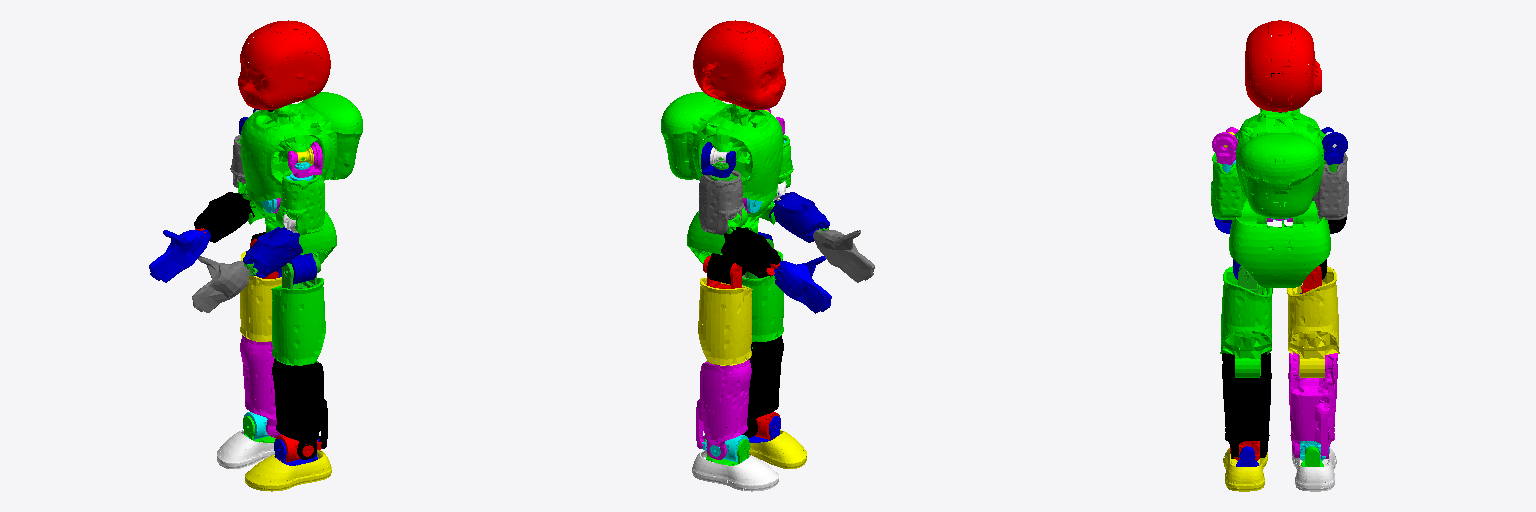
--- Render facts (derived) ---
3 views of the same robot in one strip: view 1: azimuth 30°, elevation 25°; view 2: azimuth 150°, elevation 25°; view 3: azimuth 270°, elevation 25° (orthographic).
Robot: iCub — 189 links, 188 joints (32 revolute, 156 fixed); root link base_link; default pose: all joints at 0 but 2 set to mid-range because 0 is outside their limits (r_elbow = 1.06, l_elbow = 1.06).
Visible links, largest first — view 1: chest, head, l_lower_leg, l_upper_leg, r_lower_leg, l_upper_arm, l_foot, r_upper_leg, l_hand, l_forearm, r_hand, r_forearm (+4 smaller); view 2: chest, head, r_lower_leg, r_upper_leg, l_lower_leg, r_upper_arm, r_foot, l_upper_leg, r_hand, r_forearm, l_hand, l_forearm (+4 smaller); view 3: chest, root_link, head, r_upper_leg, l_upper_leg, l_lower_leg, r_lower_leg, r_upper_arm, l_upper_arm, r_foot, l_foot, r_shoulder_2 (+1 smaller).
Boxes of the visible links, box(x1,y1,x2,y2) form: chest: box(240, 92, 362, 200); head: box(238, 20, 330, 109); l_lower_leg: box(272, 359, 327, 459); l_upper_leg: box(271, 278, 325, 365); r_lower_leg: box(240, 335, 281, 437); l_upper_arm: box(280, 170, 324, 234); l_foot: box(245, 450, 331, 491); r_upper_leg: box(240, 251, 281, 341); l_hand: box(192, 256, 249, 312); l_forearm: box(243, 227, 302, 277); r_hand: box(149, 230, 210, 282); r_forearm: box(194, 192, 254, 242); chest: box(661, 92, 783, 201); head: box(693, 20, 785, 109); r_lower_leg: box(696, 359, 751, 459); r_upper_leg: box(698, 278, 752, 365); l_lower_leg: box(742, 335, 783, 437); r_upper_arm: box(699, 170, 743, 234); r_foot: box(692, 450, 778, 491); l_upper_leg: box(742, 250, 783, 348); r_hand: box(774, 256, 831, 313); r_forearm: box(721, 227, 780, 277); l_hand: box(813, 229, 874, 282); l_forearm: box(769, 192, 829, 242); chest: box(1234, 108, 1325, 218); root_link: box(1229, 201, 1330, 287); head: box(1245, 20, 1321, 111); r_upper_leg: box(1287, 266, 1339, 377); l_upper_leg: box(1220, 266, 1272, 377); l_lower_leg: box(1222, 352, 1271, 458); r_lower_leg: box(1288, 346, 1337, 458); r_upper_arm: box(1312, 153, 1348, 219); l_upper_arm: box(1211, 153, 1247, 219); r_foot: box(1292, 448, 1336, 491); l_foot: box(1223, 448, 1267, 491); r_shoulder_2: box(1321, 127, 1347, 164).
Size in the robot's own frame: 0.4797 by 0.2988 by 1.08 metres.
Meshes: 39 distinct files referenced, 39 mesh visuals loaded (39 binary STL).

The robot description file, URDF, robot "iCub":
<robot name="iCub">
  <link name="root_link">
    <inertial>
      <origin xyz="0.0248821 0.000103947 -0.0440806" rpy="1.57079632679 0 -1.57079632679"/>
      <mass value="5.09143"/>
      <inertia ixx="0.0139679" ixy="-5.93488e-06" ixz="-1.55458e-05" iyy="0.0202112" iyz="-0.00170968" izz="0.0249124"/>
    </inertial>
    <visual>
      <origin xyz="-0.0364 0 0.032" rpy="1.57079632679 0 -1.57079632679"/>
      <geometry>
        <mesh filename="package://meshes/sim_sea_2-5_root_link_prt-binary.stl" scale="0.001 0.001 0.001"/>
      </geometry>
      <material name="green">
        <color rgba="0 1 0 1"/>
      </material>
    </visual>
    <collision>
      <origin xyz="-0.0364 0 0.032" rpy="1.57079632679 0 -1.57079632679"/>
      <geometry>
        <mesh filename="package://meshes/sim_sea_2-5_root_link_prt-binary.stl" scale="0.001 0.001 0.001"/>
      </geometry>
    </collision>
  </link>
  <link name="r_hip_1">
    <inertial>
      <origin xyz="-0.0005145 -0.0380753 -7.1e-05" rpy="1.57079632679 0 1.57079632679"/>
      <mass value="0.919978"/>
      <inertia ixx="0.000404268" ixy="-1.26852e-06" ixz="1.11055e-06" iyy="0.000574741" iyz="-7.69474e-07" izz="0.000580025"/>
    </inertial>
    <visual>
      <origin xyz="0.0428515000001 0.026 0.151913" rpy="1.57079632679 0 1.57079632679"/>
      <geometry>
        <mesh filename="package://meshes/sim_sea_2-5_r_hip_1_prt-binary.stl" scale="0.001 0.001 0.001"/>
      </geometry>
      <material name="black">
        <color rgba="0 0 0 1"/>
      </material>
    </visual>
    <collision>
      <origin xyz="0.0428515000001 0.026 0.151913" rpy="1.57079632679 0 1.57079632679"/>
      <geometry>
        <mesh filename="package://meshes/sim_sea_2-5_r_hip_1_prt-binary.stl" scale="0.001 0.001 0.001"/>
      </geometry>
    </collision>
  </link>
  <joint name="r_hip_pitch" type="revolute">
    <origin xyz="0.0064515 0.026 -0.119913" rpy="0 0 -3.14159265359"/>
    <axis xyz="-2.22044604925e-16 -1.0 0.0"/>
    <parent link="root_link"/>
    <child link="r_hip_1"/>
    <limit effort="55.5" lower="-0.785398163397" upper="2.33874119767" velocity="5.1"/>
    <dynamics damping="1.0" friction="0.0"/>
  </joint>
  <link name="r_hip_2">
    <inertial>
      <origin xyz="-0.0013754 3.49999999998e-06 -0.044282" rpy="1.57079632679 0 1.57079632679"/>
      <mass value="0.418361"/>
      <inertia ixx="0.000487866" ixy="-2.70231e-07" ixz="1.85338e-07" iyy="0.000286099" iyz="1.22793e-05" izz="0.000315174"/>
    </inertial>
    <visual>
      <origin xyz="0.0428514998094 0.0701 0.151913" rpy="1.57079632679 0 1.57079632679"/>
      <geometry>
        <mesh filename="package://meshes/sim_sea_2-5_r_hip_2_prt-binary.stl" scale="0.001 0.001 0.001"/>
      </geometry>
      <material name="red">
        <color rgba="1 0 0 1"/>
      </material>
    </visual>
    <collision>
      <origin xyz="0.0428514998094 0.0701 0.151913" rpy="1.57079632679 0 1.57079632679"/>
      <geometry>
        <mesh filename="package://meshes/sim_sea_2-5_r_hip_2_prt-binary.stl" scale="0.001 0.001 0.001"/>
      </geometry>
    </collision>
  </link>
  <joint name="r_hip_roll" type="revolute">
    <origin xyz="0 -0.0441 0" rpy="0 0 0"/>
    <axis xyz="-1.0 0.0 -2.22044604925e-16"/>
    <parent link="r_hip_1"/>
    <child link="r_hip_2"/>
    <limit effort="37.0" lower="-0.349065850399" upper="2.09439510239" velocity="7.64"/>
    <dynamics damping="1.0" friction="0.0"/>
  </joint>
  <link name="r_hip_3">
    <inertial>
      <origin xyz="-0.000123 -0.0002823 0.008718" rpy="-1.57079632679 0 -1.57079632679"/>
      <mass value="0.126212"/>
      <inertia ixx="0.01" ixy="2.67901e-07" ixz="-4.41463e-09" iyy="0.01" iyz="3.32338e-08" izz="0.01"/>
    </inertial>
    <visual>
      <origin xyz="0.0437089998094 -0.0701 -0.226213" rpy="-1.57079632679 0 -1.57079632679"/>
      <geometry>
        <mesh filename="package://meshes/sim_sea_2-5_r_upper_thigh_prt-binary.stl" scale="0.001 0.001 0.001"/>
      </geometry>
      <material name="blue">
        <color rgba="0 0 1 1"/>
      </material>
    </visual>
    <collision>
      <origin xyz="0.0437089998094 -0.0701 -0.226213" rpy="-1.57079632679 0 -1.57079632679"/>
      <geometry>
        <mesh filename="package://meshes/sim_sea_2-5_r_upper_thigh_prt-binary.stl" scale="0.001 0.001 0.001"/>
      </geometry>
    </collision>
  </link>
  <joint name="r_leg_ft_sensor" type="fixed">
    <origin xyz="-0.0008575 0 -0.0743" rpy="3.14159265359 0 0"/>
    <parent link="r_hip_2"/>
    <child link="r_hip_3"/>
    <dynamics damping="0.1"/>
  </joint>
  <link name="r_upper_leg">
    <inertial>
      <origin xyz="0.0033999 -2.91e-05 -0.078954" rpy="1.57079632679 0 1.57079632679"/>
      <mass value="1.8035"/>
      <inertia ixx="0.00647751422999" ixy="0.000129579429588" ixz="5.48205094739e-06" iyy="0.0014593786411" iyz="-0.000136613086875" izz="0.00646720823813"/>
    </inertial>
    <visual>
      <origin xyz="0.0437089998094 0.0701 0.240813" rpy="1.57079632679 0 1.57079632679"/>
      <geometry>
        <mesh filename="package://meshes/sim_sea_2-5_r_thigh_prt-binary.stl" scale="0.001 0.001 0.001"/>
      </geometry>
      <material name="yellow">
        <color rgba="1 1 0 1"/>
      </material>
    </visual>
    <collision>
      <origin xyz="0.0437089998094 0.0701 0.240813" rpy="1.57079632679 0 1.57079632679"/>
      <geometry>
        <mesh filename="package://meshes/sim_sea_2-5_r_thigh_prt-binary.stl" scale="0.001 0.001 0.001"/>
      </geometry>
    </collision>
  </link>
  <joint name="r_hip_yaw" type="revolute">
    <origin xyz="0 0 0.0144" rpy="-3.14159265359 0 0"/>
    <axis xyz="0.0 -2.22044604925e-16 -1.0"/>
    <parent link="r_hip_3"/>
    <child link="r_upper_leg"/>
    <limit effort="37.0" lower="-1.3962634016" upper="1.3962634016" velocity="7.64"/>
    <dynamics damping="1.0" friction="0.0"/>
  </joint>
  <link name="r_upper_leg_back_contact"/>
  <joint name="r_upper_leg_back_contact_fixed_joint" type="fixed">
    <origin xyz="-0.0511999 0 0.0146" rpy="0 1.57079632679 0"/>
    <parent link="r_upper_leg"/>
    <child link="r_upper_leg_back_contact"/>
    <dynamics damping="0.1"/>
  </joint>
  <link name="r_upper_leg_dh_frame"/>
  <joint name="r_upper_leg_dh_frame_fixed_joint" type="fixed">
    <origin xyz="0 0 -0.145825" rpy="1.57079632679 0 0"/>
    <parent link="r_upper_leg"/>
    <child link="r_upper_leg_dh_frame"/>
    <dynamics damping="0.1"/>
  </joint>
  <link name="r_lower_leg">
    <inertial>
      <origin xyz="0.0012363 -0.0035131 -0.088794" rpy="1.57079632679 0 1.57079632679"/>
      <mass value="1.472"/>
      <inertia ixx="0.00423993167478" ixy="0.000228814548854" ixz="-5.55646459453e-05" iyy="0.00152095043447" iyz="-0.000264132979243" izz="0.00457358584206"/>
    </inertial>
    <visual>
      <origin xyz="0.0437089998094 0.0701000001907 0.386638" rpy="1.57079632679 0 1.57079632679"/>
      <geometry>
        <mesh filename="package://meshes/sim_sea_2-5_r_shank_prt-binary.stl" scale="0.001 0.001 0.001"/>
      </geometry>
      <material name="pink">
        <color rgba="1 0 1 1"/>
      </material>
    </visual>
    <collision>
      <origin xyz="0.0437089998094 0.0701000001907 0.386638" rpy="1.57079632679 0 1.57079632679"/>
      <geometry>
        <mesh filename="package://meshes/sim_sea_2-5_r_shank_prt-binary.stl" scale="0.001 0.001 0.001"/>
      </geometry>
    </collision>
  </link>
  <joint name="r_knee" type="revolute">
    <origin xyz="0 0 -0.145825" rpy="0 0 0"/>
    <axis xyz="-2.22044604925e-16 -1.0 0.0"/>
    <parent link="r_upper_leg"/>
    <child link="r_lower_leg"/>
    <limit effort="37.0" lower="-2.16420827247" upper="0.0698131700798" velocity="7.64"/>
    <dynamics damping="1.0" friction="0.0"/>
  </joint>
  <link name="r_lower_leg_skin_0"/>
  <joint name="r_lower_leg_skin_0_fixed_joint" type="fixed">
    <origin xyz="0.0544117 -0.031214 -0.002634" rpy="2.09173809157e-06 -1.41530676247 2.48648458622"/>
    <parent link="r_lower_leg"/>
    <child link="r_lower_leg_skin_0"/>
    <dynamics damping="0.1"/>
  </joint>
  <link name="r_lower_leg_skin_3"/>
  <joint name="r_lower_leg_skin_3_fixed_joint" type="fixed">
    <origin xyz="0.05157878 0.0304205 -0.002843" rpy="0 -1.42951054083 -2.30391484186"/>
    <parent link="r_lower_leg"/>
    <child link="r_lower_leg_skin_3"/>
    <dynamics damping="0.1"/>
  </joint>
  <link name="r_lower_leg_skin_4"/>
  <joint name="r_lower_leg_skin_4_fixed_joint" type="fixed">
    <origin xyz="0.0583103 0.0167836 0.007272" rpy="-2.98636361519e-07 -1.25636748876 -2.75892380087"/>
    <parent link="r_lower_leg"/>
    <child link="r_lower_leg_skin_4"/>
    <dynamics damping="0.1"/>
  </joint>
  <link name="r_lower_leg_skin_5"/>
  <joint name="r_lower_leg_skin_5_fixed_joint" type="fixed">
    <origin xyz="0.0636503 0.0003094 -0.001972" rpy="0 -1.38652215068 -3.14147169807"/>
    <parent link="r_lower_leg"/>
    <child link="r_lower_leg_skin_5"/>
    <dynamics damping="0.1"/>
  </joint>
  <link name="r_lower_leg_skin_6"/>
  <joint name="r_lower_leg_skin_6_fixed_joint" type="fixed">
    <origin xyz="0.05208552 0.0304434 -0.022149" rpy="-3.14158927953 -1.46785123411 0.837492889077"/>
    <parent link="r_lower_leg"/>
    <child link="r_lower_leg_skin_6"/>
    <dynamics damping="0.1"/>
  </joint>
  <link name="r_lower_leg_skin_9"/>
  <joint name="r_lower_leg_skin_9_fixed_joint" type="fixed">
    <origin xyz="0.0598214 0.0167973 -0.030962" rpy="-3.14159202356 -1.34224755325 0.379294477718"/>
    <parent link="r_lower_leg"/>
    <child link="r_lower_leg_skin_9"/>
    <dynamics damping="0.1"/>
  </joint>
  <link name="r_lower_leg_skin_10"/>
  <joint name="r_lower_leg_skin_10_fixed_joint" type="fixed">
    <origin xyz="0.0644607 0.0003424 -0.021205" rpy="3.14159265355 -1.47095803541 0.000430021675261"/>
    <parent link="r_lower_leg"/>
    <child link="r_lower_leg_skin_10"/>
    <dynamics damping="0.1"/>
  </joint>
  <link name="r_lower_leg_skin_11"/>
  <joint name="r_lower_leg_skin_11_fixed_joint" type="fixed">
    <origin xyz="0.0607108 -0.0160916 -0.030885" rpy="-3.14159218252 -1.3281180406 -0.27213836788"/>
    <parent link="r_lower_leg"/>
    <child link="r_lower_leg_skin_11"/>
    <dynamics damping="0.1"/>
  </joint>
  <link name="r_lower_leg_skin_14"/>
  <joint name="r_lower_leg_skin_14_fixed_joint" type="fixed">
    <origin xyz="0.0550477 -0.031176 -0.0219" rpy="-3.14159181885 -1.46502735635 -0.654033407167"/>
    <parent link="r_lower_leg"/>
    <child link="r_lower_leg_skin_14"/>
    <dynamics damping="0.1"/>
  </joint>
  <link name="r_lower_leg_skin_15"/>
  <joint name="r_lower_leg_skin_15_fixed_joint" type="fixed">
    <origin xyz="0.0591708 -0.0161788 0.007243" rpy="4.27484256729e-07 -1.25203633076 2.86798859471"/>
    <parent link="r_lower_leg"/>
    <child link="r_lower_leg_skin_15"/>
    <dynamics damping="0.1"/>
  </joint>
  <link name="r_lower_leg_skin_16"/>
  <joint name="r_lower_leg_skin_16_fixed_joint" type="fixed">
    <origin xyz="0.0272875 -0.050287 -0.004549" rpy="1.33075915123e-05 -1.53260853515 1.96280242835"/>
    <parent link="r_lower_leg"/>
    <child link="r_lower_leg_skin_16"/>
    <dynamics damping="0.1"/>
  </joint>
  <link name="r_lower_leg_skin_17"/>
  <joint name="r_lower_leg_skin_17_fixed_joint" type="fixed">
    <origin xyz="0.027875 -0.050312 -0.023882" rpy="-3.1415645262 -1.56366240237 -1.18022508756"/>
    <parent link="r_lower_leg"/>
    <child link="r_lower_leg_skin_17"/>
    <dynamics damping="0.1"/>
  </joint>
  <link name="r_lower_leg_skin_19"/>
  <joint name="r_lower_leg_skin_19_fixed_joint" type="fixed">
    <origin xyz="0.0357534 0.0410628 0.006065" rpy="-8.90877717426e-07 -1.43498696978 -2.15863618017"/>
    <parent link="r_lower_leg"/>
    <child link="r_lower_leg_skin_19"/>
    <dynamics damping="0.1"/>
  </joint>
  <link name="r_lower_leg_skin_20"/>
  <joint name="r_lower_leg_skin_20_fixed_joint" type="fixed">
    <origin xyz="0.0234419 0.0479908 -0.004952" rpy="-3.20556549428e-06 -1.50015513031 -1.86755092413"/>
    <parent link="r_lower_leg"/>
    <child link="r_lower_leg_skin_20"/>
    <dynamics damping="0.1"/>
  </joint>
  <link name="r_lower_leg_skin_21"/>
  <joint name="r_lower_leg_skin_21_fixed_joint" type="fixed">
    <origin xyz="0.0242704 0.0485378 -0.024277" rpy="2.29671149558e-05 -1.55545513881 -1.87411972316"/>
    <parent link="r_lower_leg"/>
    <child link="r_lower_leg_skin_21"/>
    <dynamics damping="0.1"/>
  </joint>
  <link name="r_lower_leg_skin_28"/>
  <joint name="r_lower_leg_skin_28_fixed_joint" type="fixed">
    <origin xyz="0.04087215 -0.04244 -0.032756" rpy="3.14158088865 -1.52252462169 -0.929681029763"/>
    <parent link="r_lower_leg"/>
    <child link="r_lower_leg_skin_28"/>
    <dynamics damping="0.1"/>
  </joint>
  <link name="r_lower_leg_skin_29"/>
  <joint name="r_lower_leg_skin_29_fixed_joint" type="fixed">
    <origin xyz="0.03846637 -0.043516 -0.05242" rpy="3.14158017044 -1.53429841563 -0.915436346631"/>
    <parent link="r_lower_leg"/>
    <child link="r_lower_leg_skin_29"/>
    <dynamics damping="0.1"/>
  </joint>
  <link name="r_lower_leg_skin_31"/>
  <joint name="r_lower_leg_skin_31_fixed_joint" type="fixed">
    <origin xyz="0.03914638 -0.042271 0.006327" rpy="-6.58381747139e-07 -1.4186494462 2.20853032986"/>
    <parent link="r_lower_leg"/>
    <child link="r_lower_leg_skin_31"/>
    <dynamics damping="0.1"/>
  </joint>
  <link name="r_lower_leg_skin_32"/>
  <joint name="r_lower_leg_skin_32_fixed_joint" type="fixed">
    <origin xyz="0.04598301 0.0325847 -0.080733" rpy="-3.14159014988 -1.52238289798 0.645940380887"/>
    <parent link="r_lower_leg"/>
    <child link="r_lower_leg_skin_32"/>
    <dynamics damping="0.1"/>
  </joint>
  <link name="r_lower_leg_skin_35"/>
  <joint name="r_lower_leg_skin_35_fixed_joint" type="fixed">
    <origin xyz="0.04774866 -0.031232 -0.080113" rpy="-3.14158668275 -1.51758467332 -0.541532486468"/>
    <parent link="r_lower_leg"/>
    <child link="r_lower_leg_skin_35"/>
    <dynamics damping="0.1"/>
  </joint>
  <link name="r_lower_leg_skin_36"/>
  <joint name="r_lower_leg_skin_36_fixed_joint" type="fixed">
    <origin xyz="0.05322409 -0.0156018 -0.088362" rpy="-3.14159034144 -1.51587265281 -0.20740733566"/>
    <parent link="r_lower_leg"/>
    <child link="r_lower_leg_skin_36"/>
    <dynamics damping="0.1"/>
  </joint>
  <link name="r_lower_leg_skin_37"/>
  <joint name="r_lower_leg_skin_37_fixed_joint" type="fixed">
    <origin xyz="0.0552572 0.0009644 -0.078318" rpy="-3.14158180452 -1.52318336898 0.00752450583063"/>
    <parent link="r_lower_leg"/>
    <child link="r_lower_leg_skin_37"/>
    <dynamics damping="0.1"/>
  </joint>
  <link name="r_lower_leg_skin_38"/>
  <joint name="r_lower_leg_skin_38_fixed_joint" type="fixed">
    <origin xyz="0.04880467 -0.031263 -0.060757" rpy="3.14158665199 -1.5157299554 -0.54215359959"/>
    <parent link="r_lower_leg"/>
    <child link="r_lower_leg_skin_38"/>
    <dynamics damping="0.1"/>
  </joint>
  <link name="r_lower_leg_skin_41"/>
  <joint name="r_lower_leg_skin_41_fixed_joint" type="fixed">
    <origin xyz="0.0566009 -0.0159129 -0.049854" rpy="-3.14159198825 -1.40681343597 -0.248233089413"/>
    <parent link="r_lower_leg"/>
    <child link="r_lower_leg_skin_41"/>
    <dynamics damping="0.1"/>
  </joint>
  <link name="r_lower_leg_skin_42"/>
  <joint name="r_lower_leg_skin_42_fixed_joint" type="fixed">
    <origin xyz="0.0570106 0.0007962 -0.05908" rpy="3.14158970239 -1.43524750416 0.00687943651504"/>
    <parent link="r_lower_leg"/>
    <child link="r_lower_leg_skin_42"/>
    <dynamics damping="0.1"/>
  </joint>
  <link name="r_lower_leg_skin_43"/>
  <joint name="r_lower_leg_skin_43_fixed_joint" type="fixed">
    <origin xyz="0.04712542 0.0323653 -0.061362" rpy="-3.14159136621 -1.53843038237 0.624217523667"/>
    <parent link="r_lower_leg"/>
    <child link="r_lower_leg_skin_43"/>
    <dynamics damping="0.1"/>
  </joint>
  <link name="r_lower_leg_skin_46"/>
  <joint name="r_lower_leg_skin_46_fixed_joint" type="fixed">
    <origin xyz="0.0558156 0.0172164 -0.05018" rpy="-3.14158987809 -1.42759881603 0.325607710876"/>
    <parent link="r_lower_leg"/>
    <child link="r_lower_leg_skin_46"/>
    <dynamics damping="0.1"/>
  </joint>
  <link name="r_lower_leg_skin_47"/>
  <joint name="r_lower_leg_skin_47_fixed_joint" type="fixed">
    <origin xyz="0.05264163 0.0176389 -0.08886" rpy="3.14158963519 -1.51690559406 0.262640425058"/>
    <parent link="r_lower_leg"/>
    <child link="r_lower_leg_skin_47"/>
    <dynamics damping="0.1"/>
  </joint>
  <link name="r_lower_leg_skin_49"/>
  <joint name="r_lower_leg_skin_49_fixed_joint" type="fixed">
    <origin xyz="0.04113137 0.0324385 -0.138859" rpy="-3.14158934751 -1.48996135695 0.729763592113"/>
    <parent link="r_lower_leg"/>
    <child link="r_lower_leg_skin_49"/>
    <dynamics damping="0.1"/>
  </joint>
  <link name="r_lower_leg_skin_50"/>
  <joint name="r_lower_leg_skin_50_fixed_joint" type="fixed">
    <origin xyz="0.043016947 0.0325273 -0.119469" rpy="3.14159069596 -1.49900732636 0.695784020081"/>
    <parent link="r_lower_leg"/>
    <child link="r_lower_leg_skin_50"/>
    <dynamics damping="0.1"/>
  </joint>
  <link name="r_lower_leg_skin_51"/>
  <joint name="r_lower_leg_skin_51_fixed_joint" type="fixed">
    <origin xyz="0.05141583 0.017759 -0.108206" rpy="-3.14158890179 -1.50628475717 0.272079935713"/>
    <parent link="r_lower_leg"/>
    <child link="r_lower_leg_skin_51"/>
    <dynamics damping="0.1"/>
  </joint>
  <link name="r_lower_leg_skin_52"/>
  <joint name="r_lower_leg_skin_52_fixed_joint" type="fixed">
    <origin xyz="0.05299832 0.0012664 -0.116895" rpy="-3.14159164042 -1.50318674421 0.0108717260994"/>
    <parent link="r_lower_leg"/>
    <child link="r_lower_leg_skin_52"/>
    <dynamics damping="0.1"/>
  </joint>
  <link name="r_lower_leg_skin_53"/>
  <joint name="r_lower_leg_skin_53_fixed_joint" type="fixed">
    <origin xyz="0.05207312 -0.0154339 -0.107654" rpy="3.14159063987 -1.50595307447 -0.211407322892"/>
    <parent link="r_lower_leg"/>
    <child link="r_lower_leg_skin_53"/>
    <dynamics damping="0.1"/>
  </joint>
  <link name="r_lower_leg_skin_54"/>
  <joint name="r_lower_leg_skin_54_fixed_joint" type="fixed">
    <origin xyz="0.04512708 -0.030749 -0.118787" rpy="3.14158825193 -1.49745145571 -0.575115374473"/>
    <parent link="r_lower_leg"/>
    <child link="r_lower_leg_skin_54"/>
    <dynamics damping="0.1"/>
  </joint>
  <link name="r_lower_leg_skin_55"/>
  <joint name="r_lower_leg_skin_55_fixed_joint" type="fixed">
    <origin xyz="0.043502663 -0.030489 -0.138143" rpy="3.14158906486 -1.48995787038 -0.597219943789"/>
    <parent link="r_lower_leg"/>
    <child link="r_lower_leg_skin_55"/>
    <dynamics damping="0.1"/>
  </joint>
  <link name="r_lower_leg_skin_56"/>
  <joint name="r_lower_leg_skin_56_fixed_joint" type="fixed">
    <origin xyz="0.04926839 -0.015121 -0.146218" rpy="-3.14158920404 -1.49124819828 -0.2234844764"/>
    <parent link="r_lower_leg"/>
    <child link="r_lower_leg_skin_56"/>
    <dynamics damping="0.1"/>
  </joint>
  <link name="r_lower_leg_skin_60"/>
  <joint name="r_lower_leg_skin_60_fixed_joint" type="fixed">
    <origin xyz="0.04836967 0.018056 -0.146938" rpy="-3.14159173337 -1.48985968527 0.302951871954"/>
    <parent link="r_lower_leg"/>
    <child link="r_lower_leg_skin_60"/>
    <dynamics damping="0.1"/>
  </joint>
  <link name="r_lower_leg_skin_61"/>
  <joint name="r_lower_leg_skin_61_fixed_joint" type="fixed">
    <origin xyz="0.05161952 0.0014266 -0.136169" rpy="-3.14159100925 -1.49602097086 0.0132014275205"/>
    <parent link="r_lower_leg"/>
    <child link="r_lower_leg_skin_61"/>
    <dynamics damping="0.1"/>
  </joint>
  <link name="r_ankle_1">
    <inertial>
      <origin xyz="0.0151436 -0.0008686 4.2e-05" rpy="1.57079632679 0 1.57079632679"/>
      <mass value="0.6803"/>
      <inertia ixx="0.000404618848932" ixy="7.49819286945e-07" ixz="-3.01349467691e-05" iyy="0.000448633654664" iyz="2.5726697409e-06" izz="0.000308235939139"/>
    </inertial>
    <visual>
      <origin xyz="0.0437089998094 0.0701000001907 0.587138" rpy="1.57079632679 0 1.57079632679"/>
      <geometry>
        <mesh filename="package://meshes/sim_sea_2-5_r_ankle_prt-binary.stl" scale="0.001 0.001 0.001"/>
      </geometry>
      <material name="cyan">
        <color rgba="0 1 1 1"/>
      </material>
    </visual>
    <collision>
      <origin xyz="0.0437089998094 0.0701000001907 0.587138" rpy="1.57079632679 0 1.57079632679"/>
      <geometry>
        <mesh filename="package://meshes/sim_sea_2-5_r_ankle_prt-binary.stl" scale="0.001 0.001 0.001"/>
      </geometry>
    </collision>
  </link>
  <joint name="r_ankle_pitch" type="revolute">
    <origin xyz="0 0 -0.2005" rpy="0 0 0"/>
    <axis xyz="2.22044604925e-16 1.0 0.0"/>
    <parent link="r_lower_leg"/>
    <child link="r_ankle_1"/>
    <limit effort="37.0" lower="-0.610865238198" upper="0.610865238198" velocity="7.64"/>
    <dynamics damping="1.0" friction="0.0"/>
  </joint>
  <link name="r_ankle_2">
    <inertial>
      <origin xyz="0.0007673 -8.20000000001e-06 -0.038202" rpy="1.57079632679 0 1.57079632679"/>
      <mass value="0.267485"/>
      <inertia ixx="0.01" ixy="-7.53335e-08" ixz="2.93681e-08" iyy="0.01" iyz="-4.26218e-07" izz="0.01"/>
    </inertial>
    <visual>
      <origin xyz="0.0437089996186 0.0701000001907 0.587138" rpy="1.57079632679 0 1.57079632679"/>
      <geometry>
        <mesh filename="package://meshes/sim_sea_2-5_r_foot_prt-binary.stl" scale="0.001 0.001 0.001"/>
      </geometry>
      <material name="green">
        <color rgba="0 1 0 1"/>
      </material>
    </visual>
    <collision>
      <origin xyz="0.0437089996186 0.0701000001907 0.587138" rpy="1.57079632679 0 1.57079632679"/>
      <geometry>
        <mesh filename="package://meshes/sim_sea_2-5_r_foot_prt-binary.stl" scale="0.001 0.001 0.001"/>
      </geometry>
    </collision>
  </link>
  <joint name="r_ankle_roll" type="revolute">
    <origin xyz="0 0 0" rpy="0 0 0"/>
    <axis xyz="-1.0 0.0 -2.22044604925e-16"/>
    <parent link="r_ankle_1"/>
    <child link="r_ankle_2"/>
    <limit effort="37.0" lower="-0.436332312999" upper="0.436332312999" velocity="7.64"/>
    <dynamics damping="1.0" friction="0.0"/>
  </joint>
  <link name="r_foot">
    <inertial>
      <origin xyz="0.0336001 0.0053719 -0.001147" rpy="-1.57079632679 0 -1.57079632679"/>
      <mass value="0.382866"/>
      <inertia ixx="0.00120946" ixy="3.74585e-07" ixz="-5.78759e-05" iyy="0.00141439" iyz="-7.80325e-06" izz="0.000273599"/>
    </inertial>
    <visual>
      <origin xyz="0.0472089996187 -0.0701000001907 -0.647438000286" rpy="-1.57079632679 0 -1.57079632679"/>
      <geometry>
        <mesh filename="package://meshes/sim_sea_2-5_r_sole_prt-binary.stl" scale="0.001 0.001 0.001"/>
      </geometry>
      <material name="white">
        <color rgba="1 1 1 1"/>
      </material>
    </visual>
    <collision>
      <origin xyz="0.03 0.005 0.014" rpy="0.0 0.0 0.0"/>
      <geometry>
        <box size="0.16 0.072 0.001"/>
      </geometry>
    </collision>
  </link>
  <joint name="r_foot_ft_sensor" type="fixed">
    <origin xyz="-0.0035 0 -0.0605" rpy="3.14159265359 0 0"/>
    <parent link="r_ankle_2"/>
    <child link="r_foot"/>
    <dynamics damping="0.1"/>
  </joint>
  <link name="r_sole"/>
  <joint name="r_sole_fixed_joint" type="fixed">
    <origin xyz="0.0035 0 0.004" rpy="-3.14159265359 0 0"/>
    <parent link="r_foot"/>
    <child link="r_sole"/>
    <dynamics damping="0.1"/>
  </joint>
  <link name="r_sole_skin_0"/>
  <joint name="r_sole_skin_0_fixed_joint" type="fixed">
    <origin xyz="0.0604767 -0.0254106 0.0075" rpy="0 0 0"/>
    <parent link="r_foot"/>
    <child link="r_sole_skin_0"/>
    <dynamics damping="0.1"/>
  </joint>
  <link name="r_sole_skin_1"/>
  <joint name="r_sole_skin_1_fixed_joint" type="fixed">
    <origin xyz="0.0788511 -0.0194404 0.0075" rpy="0 0 0"/>
    <parent link="r_foot"/>
    <child link="r_sole_skin_1"/>
    <dynamics damping="0.1"/>
  </joint>
  <link name="r_sole_skin_2"/>
  <joint name="r_sole_skin_2_fixed_joint" type="fixed">
    <origin xyz="0.0932087 -0.032368 0.0075" rpy="0 0 0"/>
    <parent link="r_foot"/>
    <child link="r_sole_skin_2"/>
    <dynamics damping="0.1"/>
  </joint>
  <link name="r_sole_skin_3"/>
  <joint name="r_sole_skin_3_fixed_joint" type="fixed">
    <origin xyz="0.1115831 -0.0263978 0.0075" rpy="0 0 0"/>
    <parent link="r_foot"/>
    <child link="r_sole_skin_3"/>
    <dynamics damping="0.1"/>
  </joint>
  <link name="r_sole_skin_4"/>
  <joint name="r_sole_skin_4_fixed_joint" type="fixed">
    <origin xyz="0.1156 -0.0075 0.0075" rpy="0 0 0"/>
    <parent link="r_foot"/>
    <child link="r_sole_skin_4"/>
    <dynamics damping="0.1"/>
  </joint>
  <link name="r_sole_skin_8"/>
  <joint name="r_sole_skin_8_fixed_joint" type="fixed">
    <origin xyz="0.1052593 0.0243254 0.0075" rpy="0 0 0"/>
    <parent link="r_foot"/>
    <child link="r_sole_skin_8"/>
    <dynamics damping="0.1"/>
  </joint>
  <link name="r_sole_skin_9"/>
  <joint name="r_sole_skin_9_fixed_joint" type="fixed">
    <origin xyz="0.0909017 0.037253 0.0075" rpy="0 0 0"/>
    <parent link="r_foot"/>
    <child link="r_sole_skin_9"/>
    <dynamics damping="0.1"/>
  </joint>
  <link name="r_sole_skin_10"/>
  <joint name="r_sole_skin_10_fixed_joint" type="fixed">
    <origin xyz="0.0725273 0.031283 0.0075" rpy="0 0 0"/>
    <parent link="r_foot"/>
    <child link="r_sole_skin_10"/>
    <dynamics damping="0.1"/>
  </joint>
  <link name="r_sole_skin_11"/>
  <joint name="r_sole_skin_11_fixed_joint" type="fixed">
    <origin xyz="0.0685104 0.012385 0.0075" rpy="0 0 0"/>
    <parent link="r_foot"/>
    <child link="r_sole_skin_11"/>
    <dynamics damping="0.1"/>
  </joint>
  <link name="r_sole_skin_12"/>
  <joint name="r_sole_skin_12_fixed_joint" type="fixed">
    <origin xyz="0.082868 -0.0005426 0.0075" rpy="0 0 0"/>
    <parent link="r_foot"/>
    <child link="r_sole_skin_12"/>
    <dynamics damping="0.1"/>
  </joint>
  <link name="r_sole_skin_13"/>
  <joint name="r_sole_skin_13_fixed_joint" type="fixed">
    <origin xyz="0.1012424 0.0054276 0.0075" rpy="0 0 0"/>
    <parent link="r_foot"/>
    <child link="r_sole_skin_13"/>
    <dynamics damping="0.1"/>
  </joint>
  <link name="r_sole_skin_14"/>
  <joint name="r_sole_skin_14_fixed_joint" type="fixed">
    <origin xyz="0.05013603 0.0064148 0.0075" rpy="0 0 0"/>
    <parent link="r_foot"/>
    <child link="r_sole_skin_14"/>
    <dynamics damping="0.1"/>
  </joint>
  <link name="r_sole_skin_15"/>
  <joint name="r_sole_skin_15_fixed_joint" type="fixed">
    <origin xyz="0.04611917 -0.012483 0.0075" rpy="0 0 0"/>
    <parent link="r_foot"/>
    <child link="r_sole_skin_15"/>
    <dynamics damping="0.1"/>
  </joint>
  <link name="r_sole_skin_17"/>
  <joint name="r_sole_skin_17_fixed_joint" type="fixed">
    <origin xyz="-0.0296855 0.033257 0.0075" rpy="0 0 0"/>
    <parent link="r_foot"/>
    <child link="r_sole_skin_17"/>
    <dynamics damping="0.1"/>
  </joint>
  <link name="r_sole_skin_18"/>
  <joint name="r_sole_skin_18_fixed_joint" type="fixed">
    <origin xyz="-0.0480599 0.027287 0.0075" rpy="0 0 0"/>
    <parent link="r_foot"/>
    <child link="r_sole_skin_18"/>
    <dynamics damping="0.1"/>
  </joint>
  <link name="r_sole_skin_19"/>
  <joint name="r_sole_skin_19_fixed_joint" type="fixed">
    <origin xyz="-0.0520767 0.0083892 0.0075" rpy="0 0 0"/>
    <parent link="r_foot"/>
    <child link="r_sole_skin_19"/>
    <dynamics damping="0.1"/>
  </joint>
  <link name="r_sole_skin_20"/>
  <joint name="r_sole_skin_20_fixed_joint" type="fixed">
    <origin xyz="-0.0377192 -0.0045384 0.0075" rpy="0 0 0"/>
    <parent link="r_foot"/>
    <child link="r_sole_skin_20"/>
    <dynamics damping="0.1"/>
  </joint>
  <link name="r_sole_skin_21"/>
  <joint name="r_sole_skin_21_fixed_joint" type="fixed">
    <origin xyz="0.0357785 0.0193424 0.0075" rpy="0 0 0"/>
    <parent link="r_foot"/>
    <child link="r_sole_skin_21"/>
    <dynamics damping="0.1"/>
  </joint>
  <link name="r_sole_skin_22"/>
  <joint name="r_sole_skin_22_fixed_joint" type="fixed">
    <origin xyz="0.0277448 -0.0184532 0.0075" rpy="0 0 0"/>
    <parent link="r_foot"/>
    <child link="r_sole_skin_22"/>
    <dynamics damping="0.1"/>
  </joint>
  <link name="r_sole_skin_24"/>
  <joint name="r_sole_skin_24_fixed_joint" type="fixed">
    <origin xyz="-0.0049872 -0.0114958 0.0075" rpy="0 0 0"/>
    <parent link="r_foot"/>
    <child link="r_sole_skin_24"/>
    <dynamics damping="0.1"/>
  </joint>
  <link name="r_sole_skin_25"/>
  <joint name="r_sole_skin_25_fixed_joint" type="fixed">
    <origin xyz="0.0133872 -0.0055256 0.0075" rpy="0 0 0"/>
    <parent link="r_foot"/>
    <child link="r_sole_skin_25"/>
    <dynamics damping="0.1"/>
  </joint>
  <link name="r_sole_skin_26"/>
  <joint name="r_sole_skin_26_fixed_joint" type="fixed">
    <origin xyz="0.0174041 0.0133722 0.0075" rpy="0 0 0"/>
    <parent link="r_foot"/>
    <child link="r_sole_skin_26"/>
    <dynamics damping="0.1"/>
  </joint>
  <link name="r_sole_skin_27"/>
  <joint name="r_sole_skin_27_fixed_joint" type="fixed">
    <origin xyz="0.0030465 0.0262998 0.0075" rpy="0 0 0"/>
    <parent link="r_foot"/>
    <child link="r_sole_skin_27"/>
    <dynamics damping="0.1"/>
  </joint>
  <link name="r_sole_skin_28"/>
  <joint name="r_sole_skin_28_fixed_joint" type="fixed">
    <origin xyz="-0.0153279 0.0203296 0.0075" rpy="0 0 0"/>
    <parent link="r_foot"/>
    <child link="r_sole_skin_28"/>
    <dynamics damping="0.1"/>
  </joint>
  <link name="r_sole_skin_29"/>
  <joint name="r_sole_skin_29_fixed_joint" type="fixed">
    <origin xyz="-0.0193448 0.0014318 0.0075" rpy="0 0 0"/>
    <parent link="r_foot"/>
    <child link="r_sole_skin_29"/>
    <dynamics damping="0.1"/>
  </joint>
  <link name="l_hip_1">
    <inertial>
      <origin xyz="-0.0005108 0.0380923 -8.3e-05" rpy="1.57079632679 0 1.57079632679"/>
      <mass value="0.919725"/>
      <inertia ixx="0.000404539" ixy="1.18502e-06" ixz="-9.64514e-07" iyy="0.000573315" iyz="-1.06028e-06" izz="0.000578982"/>
    </inertial>
    <visual>
      <origin xyz="0.0428515000001 -0.026 0.151913" rpy="1.57079632679 0 1.57079632679"/>
      <geometry>
        <mesh filename="package://meshes/sim_sea_2-5_l_hip_1_prt-binary.stl" scale="0.001 0.001 0.001"/>
      </geometry>
      <material name="dblue">
        <color rgba="0 0 0.8 1"/>
      </material>
    </visual>
    <collision>
      <origin xyz="0.0428515000001 -0.026 0.151913" rpy="1.57079632679 0 1.57079632679"/>
      <geometry>
        <mesh filename="package://meshes/sim_sea_2-5_l_hip_1_prt-binary.stl" scale="0.001 0.001 0.001"/>
      </geometry>
    </collision>
  </link>
  <joint name="l_hip_pitch" type="revolute">
    <origin xyz="0.0064515 -0.026 -0.119913" rpy="0 0 -3.14159265359"/>
    <axis xyz="-2.22044604925e-16 -1.0 0.0"/>
    <parent link="root_link"/>
    <child link="l_hip_1"/>
    <limit effort="55.5" lower="-0.785398163397" upper="2.33874119767" velocity="5.1"/>
    <dynamics damping="1.0" friction="0.0"/>
  </joint>
  <link name="l_hip_2">
    <inertial>
      <origin xyz="-0.0015762 -1.94e-05 -0.044053" rpy="1.57079632679 0 1.57079632679"/>
      <mass value="0.421106"/>
      <inertia ixx="0.000494284" ixy="1.5483e-07" ixz="-1.86308e-07" iyy="0.000288736" iyz="1.52962e-05" izz="0.000319008"/>
    </inertial>
    <visual>
      <origin xyz="0.0428514998093 -0.0701 0.151913" rpy="1.57079632679 0 1.57079632679"/>
      <geometry>
        <mesh filename="package://meshes/sim_sea_2-5_l_hip_2_prt-binary.stl" scale="0.001 0.001 0.001"/>
      </geometry>
      <material name="dgreen">
        <color rgba="0.1 0.8 0.1 1"/>
      </material>
    </visual>
    <collision>
      <origin xyz="0.0428514998093 -0.0701 0.151913" rpy="1.57079632679 0 1.57079632679"/>
      <geometry>
        <mesh filename="package://meshes/sim_sea_2-5_l_hip_2_prt-binary.stl" scale="0.001 0.001 0.001"/>
      </geometry>
    </collision>
  </link>
  <joint name="l_hip_roll" type="revolute">
    <origin xyz="0 0.0441 0" rpy="0 0 0"/>
    <axis xyz="1.0 0.0 2.22044604925e-16"/>
    <parent link="l_hip_1"/>
    <child link="l_hip_2"/>
    <limit effort="37.0" lower="-0.349065850399" upper="2.09439510239" velocity="7.64"/>
    <dynamics damping="1.0" friction="0.0"/>
  </joint>
  <link name="l_hip_3">
    <inertial>
      <origin xyz="-0.000123 -0.0002823 0.008718" rpy="-1.57079632679 0 -1.57079632679"/>
      <mass value="0.126212"/>
      <inertia ixx="0.01" ixy="2.67901e-07" ixz="-4.41463e-09" iyy="0.01" iyz="3.32338e-08" izz="0.01"/>
    </inertial>
    <visual>
      <origin xyz="0.0437089998093 0.0701 -0.226213" rpy="-1.57079632679 0 -1.57079632679"/>
      <geometry>
        <mesh filename="package://meshes/sim_sea_2-5_l_upper_thigh_prt-binary.stl" scale="0.001 0.001 0.001"/>
      </geometry>
      <material name="gray">
        <color rgba="0.5 0.5 0.5 1"/>
      </material>
    </visual>
    <collision>
      <origin xyz="0.0437089998093 0.0701 -0.226213" rpy="-1.57079632679 0 -1.57079632679"/>
      <geometry>
        <mesh filename="package://meshes/sim_sea_2-5_l_upper_thigh_prt-binary.stl" scale="0.001 0.001 0.001"/>
      </geometry>
    </collision>
  </link>
  <joint name="l_leg_ft_sensor" type="fixed">
    <origin xyz="-0.0008575 0 -0.0743" rpy="3.14159265359 0 0"/>
    <parent link="l_hip_2"/>
    <child link="l_hip_3"/>
    <dynamics damping="0.1"/>
  </joint>
  <link name="l_upper_leg">
    <inertial>
      <origin xyz="0.0033868 0.0001018 -0.078916" rpy="1.57079632679 0 1.57079632679"/>
      <mass value="1.8084"/>
      <inertia ixx="0.00648512673084" ixy="-0.00012421121424" ixz="-3.97399421479e-06" iyy="0.00146250529833" iyz="-0.00013681806888" izz="0.00647619242046"/>
    </inertial>
    <visual>
      <origin xyz="0.0437089998093 -0.0701 0.240813" rpy="1.57079632679 0 1.57079632679"/>
      <geometry>
        <mesh filename="package://meshes/sim_sea_2-5_l_thigh_prt-binary.stl" scale="0.001 0.001 0.001"/>
      </geometry>
      <material name="green">
        <color rgba="0 1 0 1"/>
      </material>
    </visual>
    <collision>
      <origin xyz="0.0437089998093 -0.0701 0.240813" rpy="1.57079632679 0 1.57079632679"/>
      <geometry>
        <mesh filename="package://meshes/sim_sea_2-5_l_thigh_prt-binary.stl" scale="0.001 0.001 0.001"/>
      </geometry>
    </collision>
  </link>
  <joint name="l_hip_yaw" type="revolute">
    <origin xyz="0 0 0.0144" rpy="-3.14159265359 0 0"/>
    <axis xyz="0.0 2.22044604925e-16 1.0"/>
    <parent link="l_hip_3"/>
    <child link="l_upper_leg"/>
    <limit effort="37.0" lower="-1.3962634016" upper="1.3962634016" velocity="7.64"/>
    <dynamics damping="1.0" friction="0.0"/>
  </joint>
  <link name="l_upper_leg_back_contact"/>
  <joint name="l_upper_leg_back_contact_fixed_joint" type="fixed">
    <origin xyz="-0.0512567 0 0.0146" rpy="0 1.57079632679 0"/>
    <parent link="l_upper_leg"/>
    <child link="l_upper_leg_back_contact"/>
    <dynamics damping="0.1"/>
  </joint>
  <link name="l_upper_leg_dh_frame"/>
  <joint name="l_upper_leg_dh_frame_fixed_joint" type="fixed">
    <origin xyz="0 0 -0.145825" rpy="1.57079632679 0 0"/>
    <parent link="l_upper_leg"/>
    <child link="l_upper_leg_dh_frame"/>
    <dynamics damping="0.1"/>
  </joint>
  <link name="l_lower_leg">
    <inertial>
      <origin xyz="0.0009997 0.0034969 -0.088567" rpy="1.57079632679 0 1.57079632679"/>
      <mass value="1.4724"/>
      <inertia ixx="0.00423698606499" ixy="-0.000239615181423" ixz="6.76166218238e-05" iyy="0.00152221313636" iyz="-0.00023314283575" izz="0.00457007183207"/>
    </inertial>
    <visual>
      <origin xyz="0.0437089998093 -0.0701000001908 0.386638" rpy="1.57079632679 0 1.57079632679"/>
      <geometry>
        <mesh filename="package://meshes/sim_sea_2-5_l_shank_prt-binary.stl" scale="0.001 0.001 0.001"/>
      </geometry>
      <material name="black">
        <color rgba="0 0 0 1"/>
      </material>
    </visual>
    <collision>
      <origin xyz="0.0437089998093 -0.0701000001908 0.386638" rpy="1.57079632679 0 1.57079632679"/>
      <geometry>
        <mesh filename="package://meshes/sim_sea_2-5_l_shank_prt-binary.stl" scale="0.001 0.001 0.001"/>
      </geometry>
    </collision>
  </link>
  <joint name="l_knee" type="revolute">
    <origin xyz="0 0 -0.145825" rpy="0 0 0"/>
    <axis xyz="-2.22044604925e-16 -1.0 0.0"/>
    <parent link="l_upper_leg"/>
    <child link="l_lower_leg"/>
    <limit effort="37.0" lower="-2.16420827247" upper="0.0698131700798" velocity="7.64"/>
    <dynamics damping="1.0" friction="0.0"/>
  </joint>
  <link name="l_ankle_1">
    <inertial>
      <origin xyz="0.015153 0.0009021 4.2e-05" rpy="1.57079632679 0 1.57079632679"/>
      <mass value="0.6798"/>
      <inertia ixx="0.000404474297345" ixy="-1.13226038781e-06" ixz="3.04665105776e-05" iyy="0.00044788735407" iyz="2.57265834141e-06" izz="0.000307603045377"/>
    </inertial>
    <visual>
      <origin xyz="0.0437089998093 -0.0701000001908 0.587138" rpy="1.57079632679 0 1.57079632679"/>
      <geometry>
        <mesh filename="package://meshes/sim_sea_2-5_l_ankle_prt-binary.stl" scale="0.001 0.001 0.001"/>
      </geometry>
      <material name="red">
        <color rgba="1 0 0 1"/>
      </material>
    </visual>
    <collision>
      <origin xyz="0.0437089998093 -0.0701000001908 0.587138" rpy="1.57079632679 0 1.57079632679"/>
      <geometry>
        <mesh filename="package://meshes/sim_sea_2-5_l_ankle_prt-binary.stl" scale="0.001 0.001 0.001"/>
      </geometry>
    </collision>
  </link>
  <joint name="l_ankle_pitch" type="revolute">
    <origin xyz="0 0 -0.2005" rpy="0 0 0"/>
    <axis xyz="2.22044604925e-16 1.0 0.0"/>
    <parent link="l_lower_leg"/>
    <child link="l_ankle_1"/>
    <limit effort="37.0" lower="-0.610865238198" upper="0.610865238198" velocity="7.64"/>
    <dynamics damping="1.0" friction="0.0"/>
  </joint>
  <link name="l_ankle_2">
    <inertial>
      <origin xyz="0.0007673 -8.2e-06 -0.038202" rpy="1.57079632679 0 1.57079632679"/>
      <mass value="0.267485"/>
      <inertia ixx="0.01" ixy="-7.53335e-08" ixz="2.93681e-08" iyy="0.01" iyz="-4.26218e-07" izz="0.01"/>
    </inertial>
    <visual>
      <origin xyz="0.0437089996186 -0.0701000001908 0.587138" rpy="1.57079632679 0 1.57079632679"/>
      <geometry>
        <mesh filename="package://meshes/sim_sea_2-5_l_foot_prt-binary.stl" scale="0.001 0.001 0.001"/>
      </geometry>
      <material name="blue">
        <color rgba="0 0 1 1"/>
      </material>
    </visual>
    <collision>
      <origin xyz="0.0437089996186 -0.0701000001908 0.587138" rpy="1.57079632679 0 1.57079632679"/>
      <geometry>
        <mesh filename="package://meshes/sim_sea_2-5_l_foot_prt-binary.stl" scale="0.001 0.001 0.001"/>
      </geometry>
    </collision>
  </link>
  <joint name="l_ankle_roll" type="revolute">
    <origin xyz="0 0 0" rpy="0 0 0"/>
    <axis xyz="1.0 0.0 2.22044604925e-16"/>
    <parent link="l_ankle_1"/>
    <child link="l_ankle_2"/>
    <limit effort="37.0" lower="-0.436332312999" upper="0.436332312999" velocity="7.64"/>
    <dynamics damping="1.0" friction="0.0"/>
  </joint>
  <link name="l_foot">
    <inertial>
      <origin xyz="0.0336668 -0.0053736 -0.001164" rpy="-1.57079632679 0 -1.57079632679"/>
      <mass value="0.382968"/>
      <inertia ixx="0.00121242" ixy="-3.69533e-07" ixz="5.79273e-05" iyy="0.00141712" iyz="-7.64972e-06" izz="0.000273846"/>
    </inertial>
    <visual>
      <origin xyz="0.0472089996186 0.0701000001908 -0.647438000286" rpy="-1.57079632679 0 -1.57079632679"/>
      <geometry>
        <mesh filename="package://meshes/sim_sea_2-5_l_sole_prt-binary.stl" scale="0.001 0.001 0.001"/>
      </geometry>
      <material name="yellow">
        <color rgba="1 1 0 1"/>
      </material>
    </visual>
    <collision>
      <origin xyz="0.03 -0.005 0.014" rpy="0.0 0.0 0.0"/>
      <geometry>
        <box size="0.16 0.072 0.001"/>
      </geometry>
    </collision>
  </link>
  <joint name="l_foot_ft_sensor" type="fixed">
    <origin xyz="-0.0035 0 -0.0605" rpy="3.14159265359 0 0"/>
    <parent link="l_ankle_2"/>
    <child link="l_foot"/>
    <dynamics damping="0.1"/>
  </joint>
  <link name="l_sole"/>
  <joint name="l_sole_fixed_joint" type="fixed">
    <origin xyz="0.0035 0 0.004" rpy="-3.14159265359 0 0"/>
    <parent link="l_foot"/>
    <child link="l_sole"/>
    <dynamics damping="0.1"/>
  </joint>
  <link name="l_sole_skin_0"/>
  <joint name="l_sole_skin_0_fixed_joint" type="fixed">
    <origin xyz="0.0932087 0.032368 0.0075" rpy="0 0 0"/>
    <parent link="l_foot"/>
    <child link="l_sole_skin_0"/>
    <dynamics damping="0.1"/>
  </joint>
  <link name="l_sole_skin_1"/>
  <joint name="l_sole_skin_1_fixed_joint" type="fixed">
    <origin xyz="0.0788511 0.0194399 0.0075" rpy="0 0 0"/>
    <parent link="l_foot"/>
    <child link="l_sole_skin_1"/>
    <dynamics damping="0.1"/>
  </joint>
  <link name="l_sole_skin_2"/>
  <joint name="l_sole_skin_2_fixed_joint" type="fixed">
    <origin xyz="0.0604767 0.0254106 0.0075" rpy="0 0 0"/>
    <parent link="l_foot"/>
    <child link="l_sole_skin_2"/>
    <dynamics damping="0.1"/>
  </joint>
  <link name="l_sole_skin_3"/>
  <joint name="l_sole_skin_3_fixed_joint" type="fixed">
    <origin xyz="0.04611917 0.0124825 0.0075" rpy="0 0 0"/>
    <parent link="l_foot"/>
    <child link="l_sole_skin_3"/>
    <dynamics damping="0.1"/>
  </joint>
  <link name="l_sole_skin_4"/>
  <joint name="l_sole_skin_4_fixed_joint" type="fixed">
    <origin xyz="0.05013603 -0.0064148 0.0075" rpy="0 0 0"/>
    <parent link="l_foot"/>
    <child link="l_sole_skin_4"/>
    <dynamics damping="0.1"/>
  </joint>
  <link name="l_sole_skin_8"/>
  <joint name="l_sole_skin_8_fixed_joint" type="fixed">
    <origin xyz="0.0725273 -0.031283 0.0075" rpy="0 0 0"/>
    <parent link="l_foot"/>
    <child link="l_sole_skin_8"/>
    <dynamics damping="0.1"/>
  </joint>
  <link name="l_sole_skin_9"/>
  <joint name="l_sole_skin_9_fixed_joint" type="fixed">
    <origin xyz="0.0909017 -0.037254 0.0075" rpy="0 0 0"/>
    <parent link="l_foot"/>
    <child link="l_sole_skin_9"/>
    <dynamics damping="0.1"/>
  </joint>
  <link name="l_sole_skin_10"/>
  <joint name="l_sole_skin_10_fixed_joint" type="fixed">
    <origin xyz="0.1052593 -0.0243254 0.0075" rpy="0 0 0"/>
    <parent link="l_foot"/>
    <child link="l_sole_skin_10"/>
    <dynamics damping="0.1"/>
  </joint>
  <link name="l_sole_skin_11"/>
  <joint name="l_sole_skin_11_fixed_joint" type="fixed">
    <origin xyz="0.1012424 -0.0054281 0.0075" rpy="0 0 0"/>
    <parent link="l_foot"/>
    <child link="l_sole_skin_11"/>
    <dynamics damping="0.1"/>
  </joint>
  <link name="l_sole_skin_12"/>
  <joint name="l_sole_skin_12_fixed_joint" type="fixed">
    <origin xyz="0.082868 0.0005426 0.0075" rpy="0 0 0"/>
    <parent link="l_foot"/>
    <child link="l_sole_skin_12"/>
    <dynamics damping="0.1"/>
  </joint>
  <link name="l_sole_skin_13"/>
  <joint name="l_sole_skin_13_fixed_joint" type="fixed">
    <origin xyz="0.0685104 -0.0123855 0.0075" rpy="0 0 0"/>
    <parent link="l_foot"/>
    <child link="l_sole_skin_13"/>
    <dynamics damping="0.1"/>
  </joint>
  <link name="l_sole_skin_14"/>
  <joint name="l_sole_skin_14_fixed_joint" type="fixed">
    <origin xyz="0.1156 0.0074995 0.0075" rpy="0 0 0"/>
    <parent link="l_foot"/>
    <child link="l_sole_skin_14"/>
    <dynamics damping="0.1"/>
  </joint>
  <link name="l_sole_skin_15"/>
  <joint name="l_sole_skin_15_fixed_joint" type="fixed">
    <origin xyz="0.1115831 0.0263973 0.0075" rpy="0 0 0"/>
    <parent link="l_foot"/>
    <child link="l_sole_skin_15"/>
    <dynamics damping="0.1"/>
  </joint>
  <link name="l_sole_skin_17"/>
  <joint name="l_sole_skin_17_fixed_joint" type="fixed">
    <origin xyz="-0.0377192 0.0045384 0.0075" rpy="0 0 0"/>
    <parent link="l_foot"/>
    <child link="l_sole_skin_17"/>
    <dynamics damping="0.1"/>
  </joint>
  <link name="l_sole_skin_18"/>
  <joint name="l_sole_skin_18_fixed_joint" type="fixed">
    <origin xyz="-0.0520767 -0.0083897 0.0075" rpy="0 0 0"/>
    <parent link="l_foot"/>
    <child link="l_sole_skin_18"/>
    <dynamics damping="0.1"/>
  </joint>
  <link name="l_sole_skin_19"/>
  <joint name="l_sole_skin_19_fixed_joint" type="fixed">
    <origin xyz="-0.0480599 -0.027287 0.0075" rpy="0 0 0"/>
    <parent link="l_foot"/>
    <child link="l_sole_skin_19"/>
    <dynamics damping="0.1"/>
  </joint>
  <link name="l_sole_skin_20"/>
  <joint name="l_sole_skin_20_fixed_joint" type="fixed">
    <origin xyz="-0.0296855 -0.033258 0.0075" rpy="0 0 0"/>
    <parent link="l_foot"/>
    <child link="l_sole_skin_20"/>
    <dynamics damping="0.1"/>
  </joint>
  <link name="l_sole_skin_21"/>
  <joint name="l_sole_skin_21_fixed_joint" type="fixed">
    <origin xyz="0.0277448 0.0184532 0.0075" rpy="0 0 0"/>
    <parent link="l_foot"/>
    <child link="l_sole_skin_21"/>
    <dynamics damping="0.1"/>
  </joint>
  <link name="l_sole_skin_22"/>
  <joint name="l_sole_skin_22_fixed_joint" type="fixed">
    <origin xyz="0.0357785 -0.0193429 0.0075" rpy="0 0 0"/>
    <parent link="l_foot"/>
    <child link="l_sole_skin_22"/>
    <dynamics damping="0.1"/>
  </joint>
  <link name="l_sole_skin_24"/>
  <joint name="l_sole_skin_24_fixed_joint" type="fixed">
    <origin xyz="0.0030465 -0.0263003 0.0075" rpy="0 0 0"/>
    <parent link="l_foot"/>
    <child link="l_sole_skin_24"/>
    <dynamics damping="0.1"/>
  </joint>
  <link name="l_sole_skin_25"/>
  <joint name="l_sole_skin_25_fixed_joint" type="fixed">
    <origin xyz="0.0174041 -0.0133722 0.0075" rpy="0 0 0"/>
    <parent link="l_foot"/>
    <child link="l_sole_skin_25"/>
    <dynamics damping="0.1"/>
  </joint>
  <link name="l_sole_skin_26"/>
  <joint name="l_sole_skin_26_fixed_joint" type="fixed">
    <origin xyz="0.0133872 0.0055251 0.0075" rpy="0 0 0"/>
    <parent link="l_foot"/>
    <child link="l_sole_skin_26"/>
    <dynamics damping="0.1"/>
  </joint>
  <link name="l_sole_skin_27"/>
  <joint name="l_sole_skin_27_fixed_joint" type="fixed">
    <origin xyz="-0.0049872 0.0114958 0.0075" rpy="0 0 0"/>
    <parent link="l_foot"/>
    <child link="l_sole_skin_27"/>
    <dynamics damping="0.1"/>
  </joint>
  <link name="l_sole_skin_28"/>
  <joint name="l_sole_skin_28_fixed_joint" type="fixed">
    <origin xyz="-0.0193448 -0.0014323 0.0075" rpy="0 0 0"/>
    <parent link="l_foot"/>
    <child link="l_sole_skin_28"/>
    <dynamics damping="0.1"/>
  </joint>
  <link name="l_sole_skin_29"/>
  <joint name="l_sole_skin_29_fixed_joint" type="fixed">
    <origin xyz="-0.0153279 -0.0203296 0.0075" rpy="0 0 0"/>
    <parent link="l_foot"/>
    <child link="l_sole_skin_29"/>
    <dynamics damping="0.1"/>
  </joint>
  <link name="torso_1">
    <inertial>
      <origin xyz="0.0270921359 0.02914798 -0.0004398" rpy="0 0 0"/>
      <mass value="0.67144"/>
      <inertia ixx="0.00040911" ixy="-1.04522e-06" ixz="-1.02516e-06" iyy="0.000384141" iyz="6.50708e-06" izz="0.000299445"/>
    </inertial>
    <visual>
      <origin xyz="0.0270462998093 0.032 0.0364" rpy="0 0 0"/>
      <geometry>
        <mesh filename="package://meshes/sim_sea_2-5_lap_belt_1_prt-binary.stl" scale="0.001 0.001 0.001"/>
      </geometry>
      <material name="pink">
        <color rgba="1 0 1 1"/>
      </material>
    </visual>
    <collision>
      <origin xyz="0.0270462998093 0.032 0.0364" rpy="0 0 0"/>
      <geometry>
        <mesh filename="package://meshes/sim_sea_2-5_lap_belt_1_prt-binary.stl" scale="0.001 0.001 0.001"/>
      </geometry>
    </collision>
  </link>
  <joint name="torso_pitch" type="revolute">
    <origin xyz="0 0.0270463 0" rpy="1.57079632679 0 -1.57079632679"/>
    <axis xyz="1.0 0.0 0.0"/>
    <parent link="root_link"/>
    <child link="torso_1"/>
    <limit effort="50000" lower="-0.349065850399" upper="1.2217304764" velocity="50000"/>
    <dynamics damping="1.0" friction="0.0"/>
  </joint>
  <link name="torso_2">
    <inertial>
      <origin xyz="-0.000113507809265 0.0361525 0.0570963" rpy="0 0 0"/>
      <mass value="0.425685"/>
      <inertia ixx="0.000829234" ixy="2.37006e-08" ixz="9.25231e-08" iyy="0.000436517" iyz="-1.74814e-07" izz="0.000604802"/>
    </inertial>
    <visual>
      <origin xyz="0 0.1433 0.0386531" rpy="0 0 0"/>
      <geometry>
        <mesh filename="package://meshes/sim_sea_2-5_lap_belt_2_prt-binary.stl" scale="0.001 0.001 0.001"/>
      </geometry>
      <material name="cyan">
        <color rgba="0 1 1 1"/>
      </material>
    </visual>
    <collision>
      <origin xyz="0 0.1433 0.0386531" rpy="0 0 0"/>
      <geometry>
        <mesh filename="package://meshes/sim_sea_2-5_lap_belt_2_prt-binary.stl" scale="0.001 0.001 0.001"/>
      </geometry>
    </collision>
  </link>
  <joint name="torso_roll" type="revolute">
    <origin xyz="0.0270462998093 0.032 -0.0573446" rpy="0 0 0"/>
    <axis xyz="0.0 0.0 -1.0"/>
    <parent link="torso_1"/>
    <child link="torso_2"/>
    <limit effort="50000" lower="-0.523598775598" upper="0.523598775598" velocity="50000"/>
    <dynamics damping="1.0" friction="0.0"/>
  </joint>
  <link name="chest">
    <inertial>
      <origin xyz="0.000188619190735 0.073091 -0.0472381" rpy="0 0 0"/>
      <mass value="7.638"/>
      <inertia ixx="0.0430324878618" ixy="2.91075388804e-05" ixz="0.000181985229949" iyy="0.0440835725548" iyz="-0.000429106409108" izz="0.0260563249911"/>
    </inertial>
    <visual>
      <origin xyz="0 0.0928 -0.024189" rpy="0 0 0"/>
      <geometry>
        <mesh filename="package://meshes/sim_sea_2-5_chest_bb_prt-binary.stl" scale="0.001 0.001 0.001"/>
      </geometry>
      <material name="green">
        <color rgba="0 1 0 1"/>
      </material>
    </visual>
    <collision>
      <origin xyz="0 0.0928 -0.024189" rpy="0 0 0"/>
      <geometry>
        <mesh filename="package://meshes/sim_sea_2-5_chest_bb_prt-binary.stl" scale="0.001 0.001 0.001"/>
      </geometry>
    </collision>
  </link>
  <joint name="torso_yaw" type="revolute">
    <origin xyz="0 0.05 0.0628421" rpy="0 0 0"/>
    <axis xyz="0.0 -1.0 0.0"/>
    <parent link="torso_2"/>
    <child link="chest"/>
    <limit effort="50000" lower="-0.872664625997" upper="0.872664625997" velocity="50000"/>
    <dynamics damping="1.0" friction="0.0"/>
  </joint>
  <link name="r_shoulder_1">
    <inertial>
      <origin xyz="-0.0122656014133 3.2e-05 -0.00321064290449" rpy="0 0 0"/>
      <mass value="0.114862"/>
      <inertia ixx="0.01" ixy="-1.65173e-08" ixz="-3.55626e-06" iyy="0.01" iyz="-6.13337e-08" izz="0.01"/>
    </inertial>
    <visual>
      <origin xyz="0.0990079253076 0 -0.0265292487558" rpy="0 0 0"/>
      <geometry>
        <mesh filename="package://meshes/sim_sea_2-5_r_shoulder_1_prt-binary.stl" scale="0.001 0.001 0.001"/>
      </geometry>
      <material name="white">
        <color rgba="1 1 1 1"/>
      </material>
    </visual>
    <collision>
      <origin xyz="0.0990079253076 0 -0.0265292487558" rpy="0 0 0"/>
      <geometry>
        <mesh filename="package://meshes/sim_sea_2-5_r_shoulder_1_prt-binary.stl" scale="0.001 0.001 0.001"/>
      </geometry>
    </collision>
  </link>
  <joint name="r_shoulder_pitch" type="revolute">
    <origin xyz="-0.120015999809 0.0928 0.0079693" rpy="0 -0.523598883792 3.14159265359"/>
    <axis xyz="-0.965925926173 0.0 0.258819275525"/>
    <parent link="chest"/>
    <child link="r_shoulder_1"/>
    <limit effort="50000" lower="-1.66678943565" upper="0.174532925199" velocity="50000"/>
    <dynamics damping="1.0" friction="0.0"/>
  </joint>
  <link name="r_shoulder_2">
    <inertial>
      <origin xyz="-0.0214141709438 0.000271725272551 -0.0194402344535" rpy="0 0 0"/>
      <mass value="0.238162"/>
      <inertia ixx="0.01" ixy="-1.12091e-07" ixz="1.02574e-05" iyy="0.01" iyz="1.19785e-06" izz="0.01"/>
    </inertial>
    <visual>
      <origin xyz="0.106587808568 2.31914715418e-07 -0.0407392121175" rpy="0 0 0"/>
      <geometry>
        <mesh filename="package://meshes/sim_sea_2-5_r_shoulder_2_prt-binary.stl" scale="0.001 0.001 0.001"/>
      </geometry>
      <material name="dblue">
        <color rgba="0 0 0.8 1"/>
      </material>
    </visual>
    <collision>
      <origin xyz="0.106587808568 2.31914715418e-07 -0.0407392121175" rpy="0 0 0"/>
      <geometry>
        <mesh filename="package://meshes/sim_sea_2-5_r_shoulder_2_prt-binary.stl" scale="0.001 0.001 0.001"/>
      </geometry>
    </collision>
  </link>
  <joint name="r_shoulder_roll" type="revolute">
    <origin xyz="-0.00758046573227 0 0.0142102463639" rpy="-0.270597611583 -0.252680154648 -1.50155680035"/>
    <axis xyz="-0.258819 -2.77555756156e-17 -0.965926"/>
    <parent link="r_shoulder_1"/>
    <child link="r_shoulder_2"/>
    <limit effort="50000" lower="0.0" upper="2.80648943721" velocity="50000"/>
    <dynamics damping="1.0" friction="0.0"/>
  </joint>
  <link name="r_shoulder_3">
    <inertial>
      <origin xyz="-0.0267620766871 -6.99999999998e-06 0.0146999207713" rpy="0 0 0"/>
      <mass value="0.35913"/>
      <inertia ixx="0.01" ixy="3.60361e-07" ixz="4.94445e-05" iyy="0.01" iyz="2.65919e-07" izz="0.01"/>
    </inertial>
    <visual>
      <origin xyz="0.131933879164 0 -0.0353515667647" rpy="0 0 0"/>
      <geometry>
        <mesh filename="package://meshes/sim_sea_2-5_r_upper_arm_prt-binary.stl" scale="0.001 0.001 0.001"/>
      </geometry>
      <material name="dgreen">
        <color rgba="0.1 0.8 0.1 1"/>
      </material>
    </visual>
    <collision>
      <origin xyz="0.131933879164 0 -0.0353515667647" rpy="0 0 0"/>
      <geometry>
        <mesh filename="package://meshes/sim_sea_2-5_r_upper_arm_prt-binary.stl" scale="0.001 0.001 0.001"/>
      </geometry>
    </collision>
  </link>
  <joint name="r_shoulder_yaw" type="revolute">
    <origin xyz="-0.0253460713232 2.32750427306e-07 -0.00538764806457" rpy="-0.252689546175 0.0085186183214 0.067039889142"/>
    <axis xyz="0.965925843882 -2.22044604925e-16 -0.258818979447"/>
    <parent link="r_shoulder_2"/>
    <child link="r_shoulder_3"/>
    <limit effort="50000" lower="-0.645771823238" upper="1.3962634016" velocity="50000"/>
    <dynamics damping="1.0" friction="0.0"/>
  </joint>
  <link name="r_upper_arm">
    <inertial>
      <origin xyz="-0.006087 0.000126 0.0293121" rpy="0 1.30899700697 0"/>
      <mass value="0.745104"/>
      <inertia ixx="0.000509527" ixy="1.19292e-06" ixz="-1.17426e-05" iyy="0.000668487" iyz="1.13363e-06" izz="0.000599254"/>
    </inertial>
    <visual>
      <origin xyz="-0.015 0 -0.1933" rpy="0 1.30899700697 0"/>
      <geometry>
        <mesh filename="package://meshes/sim_sea_2-5_r_elbow_prt-binary.stl" scale="0.001 0.001 0.001"/>
      </geometry>
      <material name="gray">
        <color rgba="0.5 0.5 0.5 1"/>
      </material>
    </visual>
    <collision>
      <origin xyz="-0.015 0 -0.1933" rpy="0 1.30899700697 0"/>
      <geometry>
        <mesh filename="package://meshes/sim_sea_2-5_r_elbow_prt-binary.stl" scale="0.001 0.001 0.001"/>
      </geometry>
    </collision>
  </link>
  <joint name="r_arm_ft_sensor" type="fixed">
    <origin xyz="-0.0508973017665 0 0.0291670296206" rpy="0 -1.30899700697 0"/>
    <parent link="r_shoulder_3"/>
    <child link="r_upper_arm"/>
    <dynamics damping="0.1"/>
  </joint>
  <link name="r_elbow_1">
    <inertial>
      <origin xyz="-0.00673912932843 0.0188019 -0.00465769236154" rpy="0 0 0"/>
      <mass value="0.267903"/>
      <inertia ixx="0.01" ixy="7.36974e-06" ixz="-1.04536e-05" iyy="0.01" iyz="3.92498e-06" izz="0.01"/>
    </inertial>
    <visual>
      <origin xyz="0.259390463317 0.0224999 -0.0850325886962" rpy="0 0 0"/>
      <geometry>
        <mesh filename="package://meshes/sim_sea_2-5_r_elbow_prosup_prt-binary.stl" scale="0.001 0.001 0.001"/>
      </geometry>
      <material name="green">
        <color rgba="0 1 0 1"/>
      </material>
    </visual>
    <collision>
      <origin xyz="0.259390463317 0.0224999 -0.0850325886962" rpy="0 0 0"/>
      <geometry>
        <mesh filename="package://meshes/sim_sea_2-5_r_elbow_prosup_prt-binary.stl" scale="0.001 0.001 0.001"/>
      </geometry>
    </collision>
  </link>
  <joint name="r_elbow" type="revolute">
    <origin xyz="0 -0.0224999 0.07926" rpy="0 1.30899700697 0"/>
    <axis xyz="2.22044604925e-16 1.0 0.0"/>
    <parent link="r_upper_arm"/>
    <child link="r_elbow_1"/>
    <limit effort="50000" lower="0.261799387799" upper="1.85004900711" velocity="50000"/>
    <dynamics damping="1.0" friction="0.0"/>
  </joint>
  <link name="r_forearm">
    <inertial>
      <origin xyz="-0.0404391133886 -0.000328 0.00532733448387" rpy="0 0 0"/>
      <mass value="0.6347"/>
      <inertia ixx="0.000370044" ixy="-1.65419e-06" ixz="0.00010538" iyy="0.000672279" iyz="1.1456e-06" izz="0.000553637"/>
    </inertial>
    <visual>
      <origin xyz="0.296886967375 0 -0.0795506015227" rpy="0 0 0"/>
      <geometry>
        <mesh filename="package://meshes/sim_sea_2-5_r_forearm_prt-binary.stl" scale="0.001 0.001 0.001"/>
      </geometry>
      <material name="black">
        <color rgba="0 0 0 1"/>
      </material>
    </visual>
    <collision>
      <origin xyz="0.296886967375 0 -0.0795506015227" rpy="0 0 0"/>
      <geometry>
        <mesh filename="package://meshes/sim_sea_2-5_r_forearm_prt-binary.stl" scale="0.001 0.001 0.001"/>
      </geometry>
    </collision>
  </link>
  <joint name="r_wrist_prosup" type="revolute">
    <origin xyz="-0.0384624299027 0.0224999 -0.00522316819403" rpy="0 0 0"/>
    <axis xyz="0.965925843882 -2.22044604925e-16 -0.258818979447"/>
    <parent link="r_elbow_1"/>
    <child link="r_forearm"/>
    <limit effort="50000" lower="-1.0471975512" upper="1.0471975512" velocity="50000"/>
    <dynamics damping="1.0" friction="0.0"/>
  </joint>
  <link name="r_forearm_skin_0"/>
  <joint name="r_forearm_skin_0_fixed_joint" type="fixed">
    <origin xyz="-0.0454493286618 0.030077 -0.00628656037901" rpy="1.69181522292 -0.271026744341 -3.06880438227"/>
    <parent link="r_forearm"/>
    <child link="r_forearm_skin_0"/>
    <dynamics damping="0.1"/>
  </joint>
  <link name="r_forearm_skin_1"/>
  <joint name="r_forearm_skin_1_fixed_joint" type="fixed">
    <origin xyz="-0.0333728935826 0.028826 -0.0198456867711" rpy="1.86694023278 -0.274442533764 -3.09946977984"/>
    <parent link="r_forearm"/>
    <child link="r_forearm_skin_1"/>
    <dynamics damping="0.1"/>
  </joint>
  <link name="r_forearm_skin_2"/>
  <joint name="r_forearm_skin_2_fixed_joint" type="fixed">
    <origin xyz="-0.0146988929852 0.031279 -0.0160117338371" rpy="1.72847287019 -0.264015219116 -3.12733260687"/>
    <parent link="r_forearm"/>
    <child link="r_forearm_skin_2"/>
    <dynamics damping="0.1"/>
  </joint>
  <link name="r_forearm_skin_3"/>
  <joint name="r_forearm_skin_3_fixed_joint" type="fixed">
    <origin xyz="-0.045567293622 -0.030891 -0.00633000929351" rpy="-1.69487280859 -0.269757727104 3.07959743574"/>
    <parent link="r_forearm"/>
    <child link="r_forearm_skin_3"/>
    <dynamics damping="0.1"/>
  </joint>
  <link name="r_forearm_skin_4"/>
  <joint name="r_forearm_skin_4_fixed_joint" type="fixed">
    <origin xyz="-0.0635326332996 -0.0281163 -0.00899784258066" rpy="-1.80734960194 -0.0393131796327 2.97997643632"/>
    <parent link="r_forearm"/>
    <child link="r_forearm_skin_4"/>
    <dynamics damping="0.1"/>
  </joint>
  <link name="r_forearm_skin_5"/>
  <joint name="r_forearm_skin_5_fixed_joint" type="fixed">
    <origin xyz="-0.0688211941968 -0.0179483 -0.0231133361791" rpy="-2.5410475806 -0.385627260642 3.05486989667"/>
    <parent link="r_forearm"/>
    <child link="r_forearm_skin_5"/>
    <dynamics damping="0.1"/>
  </joint>
  <link name="r_forearm_skin_6"/>
  <joint name="r_forearm_skin_6_fixed_joint" type="fixed">
    <origin xyz="-0.0333948436255 -0.0295479 -0.0198325583433" rpy="-1.86628164653 -0.272886336181 3.10448585021"/>
    <parent link="r_forearm"/>
    <child link="r_forearm_skin_6"/>
    <dynamics damping="0.1"/>
  </joint>
  <link name="r_forearm_skin_7"/>
  <joint name="r_forearm_skin_7_fixed_joint" type="fixed">
    <origin xyz="-0.0147224260074 -0.0319422 -0.0159326482703" rpy="-1.72564640857 -0.263992900722 3.12721254266"/>
    <parent link="r_forearm"/>
    <child link="r_forearm_skin_7"/>
    <dynamics damping="0.1"/>
  </joint>
  <link name="r_forearm_skin_8"/>
  <joint name="r_forearm_skin_8_fixed_joint" type="fixed">
    <origin xyz="-0.0228528628554 -0.0097862 -0.041885146375" rpy="-2.94801979137 -0.270605090512 3.13980557285"/>
    <parent link="r_forearm"/>
    <child link="r_forearm_skin_8"/>
    <dynamics damping="0.1"/>
  </joint>
  <link name="r_forearm_skin_9"/>
  <joint name="r_forearm_skin_9_fixed_joint" type="fixed">
    <origin xyz="-0.0376032734683 -0.018955 -0.0340163371186" rpy="-2.58406517708 -0.2933217196 3.12128407396"/>
    <parent link="r_forearm"/>
    <child link="r_forearm_skin_9"/>
    <dynamics damping="0.1"/>
  </joint>
  <link name="r_forearm_skin_10"/>
  <joint name="r_forearm_skin_10_fixed_joint" type="fixed">
    <origin xyz="-0.0542285210888 -0.0097861 -0.0321469082866" rpy="-2.94123313406 -0.328304471922 3.1276263754"/>
    <parent link="r_forearm"/>
    <child link="r_forearm_skin_10"/>
    <dynamics damping="0.1"/>
  </joint>
  <link name="r_forearm_skin_11"/>
  <joint name="r_forearm_skin_11_fixed_joint" type="fixed">
    <origin xyz="-0.0542240912024 0.009043 -0.0321431259452" rpy="2.93929835957 -0.329101389745 -3.12731916446"/>
    <parent link="r_forearm"/>
    <child link="r_forearm_skin_11"/>
    <dynamics damping="0.1"/>
  </joint>
  <link name="r_forearm_skin_12"/>
  <joint name="r_forearm_skin_12_fixed_joint" type="fixed">
    <origin xyz="-0.0375994633868 0.018216 -0.0340191179961" rpy="2.58303505964 -0.29483050207 -3.12026580314"/>
    <parent link="r_forearm"/>
    <child link="r_forearm_skin_12"/>
    <dynamics damping="0.1"/>
  </joint>
  <link name="r_forearm_skin_13"/>
  <joint name="r_forearm_skin_13_fixed_joint" type="fixed">
    <origin xyz="-0.0228550868405 0.009048 -0.0418919009209" rpy="2.94896679198 -0.270583947189 -3.13981880352"/>
    <parent link="r_forearm"/>
    <child link="r_forearm_skin_13"/>
    <dynamics damping="0.1"/>
  </joint>
  <link name="r_forearm_skin_14"/>
  <joint name="r_forearm_skin_14_fixed_joint" type="fixed">
    <origin xyz="-0.0687703276364 0.01716 -0.0230239558511" rpy="2.48044991868 -0.295542566281 -2.91877349139"/>
    <parent link="r_forearm"/>
    <child link="r_forearm_skin_14"/>
    <dynamics damping="0.1"/>
  </joint>
  <link name="r_forearm_skin_15"/>
  <joint name="r_forearm_skin_15_fixed_joint" type="fixed">
    <origin xyz="-0.0633786419662 0.027145 -0.00879405455544" rpy="1.80492769741 -0.289783281916 -3.02765891428"/>
    <parent link="r_forearm"/>
    <child link="r_forearm_skin_15"/>
    <dynamics damping="0.1"/>
  </joint>
  <link name="r_forearm_skin_16"/>
  <joint name="r_forearm_skin_16_fixed_joint" type="fixed">
    <origin xyz="-0.03792482187 0.030487 0.0206369503605" rpy="1.41280007026 -0.25082462139 -3.06572742343"/>
    <parent link="r_forearm"/>
    <child link="r_forearm_skin_16"/>
    <dynamics damping="0.1"/>
  </joint>
  <link name="r_forearm_skin_17"/>
  <joint name="r_forearm_skin_17_fixed_joint" type="fixed">
    <origin xyz="-0.0543170548821 0.027725 0.0303291240179" rpy="1.27223716205 -0.23059304703 -3.03195542837"/>
    <parent link="r_forearm"/>
    <child link="r_forearm_skin_17"/>
    <dynamics damping="0.1"/>
  </joint>
  <link name="r_forearm_skin_19"/>
  <joint name="r_forearm_skin_19_fixed_joint" type="fixed">
    <origin xyz="-0.0381266107138 -0.0312941 0.020690605393" rpy="-1.41560888703 -0.252569290226 3.07715217889"/>
    <parent link="r_forearm"/>
    <child link="r_forearm_skin_19"/>
    <dynamics damping="0.1"/>
  </joint>
  <link name="r_forearm_skin_22"/>
  <joint name="r_forearm_skin_22_fixed_joint" type="fixed">
    <origin xyz="-0.0544173950421 -0.0287223 0.0306037516609" rpy="-1.2658242728 -0.234328151379 3.04788317971"/>
    <parent link="r_forearm"/>
    <child link="r_forearm_skin_22"/>
    <dynamics damping="0.1"/>
  </joint>
  <link name="r_forearm_skin_24"/>
  <joint name="r_forearm_skin_24_fixed_joint" type="fixed">
    <origin xyz="-0.0700345319564 -0.0097164 0.050069108714" rpy="-0.23489327644 -0.0388172993982 3.08676345459"/>
    <parent link="r_forearm"/>
    <child link="r_forearm_skin_24"/>
    <dynamics damping="0.1"/>
  </joint>
  <link name="r_forearm_skin_25"/>
  <joint name="r_forearm_skin_25_fixed_joint" type="fixed">
    <origin xyz="-0.0535999216295 -0.0182238 0.0454698125045" rpy="-0.564295527715 -0.136980272197 3.05963182792"/>
    <parent link="r_forearm"/>
    <child link="r_forearm_skin_25"/>
    <dynamics damping="0.1"/>
  </joint>
  <link name="r_forearm_skin_28"/>
  <joint name="r_forearm_skin_28_fixed_joint" type="fixed">
    <origin xyz="-0.0535859272148 0.017412 0.045352037397" rpy="0.59077064408 -0.0531607226063 3.10597081167"/>
    <parent link="r_forearm"/>
    <child link="r_forearm_skin_28"/>
    <dynamics damping="0.1"/>
  </joint>
  <link name="r_forearm_skin_29"/>
  <joint name="r_forearm_skin_29_fixed_joint" type="fixed">
    <origin xyz="-0.0700355805031 0.008954 0.0500111036233" rpy="0.248630982209 -0.0383136556786 -3.08328999116"/>
    <parent link="r_forearm"/>
    <child link="r_forearm_skin_29"/>
    <dynamics damping="0.1"/>
  </joint>
  <link name="r_forearm_dh_frame"/>
  <joint name="r_forearm_dh_frame_fixed_joint" type="fixed">
    <origin xyz="-0.102871102373 7.00000000002e-06 0.0275642213111" rpy="-0.261799319827 0 -1.57079632679"/>
    <parent link="r_forearm"/>
    <child link="r_forearm_dh_frame"/>
    <dynamics damping="0.1"/>
  </joint>
  <link name="r_wrist_1">
    <inertial>
      <origin xyz="0.000986101955547 -0.001176 0.00410132736724" rpy="0 0 0"/>
      <mass value="0.0362615"/>
      <inertia ixx="0.01" ixy="-3.10462e-08" ixz="-9.44554e-07" iyy="0.01" iyz="-1.59685e-07" izz="0.01"/>
    </inertial>
    <visual>
      <origin xyz="0.400392176248 -7.00000000009e-06 -0.104748304516" rpy="0 0 0"/>
      <geometry>
        <mesh filename="package://meshes/sim_sea_2-5_r_wrist_pitch_prt-binary.stl" scale="0.001 0.001 0.001"/>
      </geometry>
      <material name="red">
        <color rgba="1 0 0 1"/>
      </material>
    </visual>
    <collision>
      <origin xyz="0.400392176248 -7.00000000009e-06 -0.104748304516" rpy="0 0 0"/>
      <geometry>
        <mesh filename="package://meshes/sim_sea_2-5_r_wrist_pitch_prt-binary.stl" scale="0.001 0.001 0.001"/>
      </geometry>
    </collision>
  </link>
  <joint name="r_wrist_pitch" type="revolute">
    <origin xyz="-0.103505208873 7.00000000002e-06 0.0251977029936" rpy="0 0 0"/>
    <axis xyz="0.258818979447 0.0 0.965925843882"/>
    <parent link="r_forearm"/>
    <child link="r_wrist_1"/>
    <limit effort="50000" lower="-1.3962634016" upper="0.436332312999" velocity="50000"/>
    <dynamics damping="1.0" friction="0.0"/>
  </joint>
  <link name="r_hand">
    <inertial>
      <origin xyz="-0.064668163717 0.0056002 0.0226812940918" rpy="0 0 0"/>
      <mass value="0.248289"/>
      <inertia ixx="0.01" ixy="-2.3536e-06" ixz="3.61526e-05" iyy="0.01" iyz="2.07146e-05" izz="0.01"/>
    </inertial>
    <visual>
      <origin xyz="0.399758069749 0.0194929 -0.107114822834" rpy="0 0 0"/>
      <geometry>
        <mesh filename="package://meshes/sim_sea_2-5_r_hand_prt-binary.stl" scale="0.001 0.001 0.001"/>
      </geometry>
      <material name="blue">
        <color rgba="0 0 1 1"/>
      </material>
    </visual>
    <collision>
      <origin xyz="0.399758069749 0.0194929 -0.107114822834" rpy="0 0 0"/>
      <geometry>
        <mesh filename="package://meshes/sim_sea_2-5_r_hand_prt-binary.stl" scale="0.001 0.001 0.001"/>
      </geometry>
    </collision>
  </link>
  <joint name="r_wrist_yaw" type="revolute">
    <origin xyz="0.000634106499644 -0.0194999 0.00236651831751" rpy="0 0 0"/>
    <axis xyz="2.22044604925e-16 1.0 0.0"/>
    <parent link="r_wrist_1"/>
    <child link="r_hand"/>
    <limit effort="50000" lower="-0.349065850399" upper="0.436332312999" velocity="50000"/>
    <dynamics damping="1.0" friction="0.0"/>
  </joint>
  <link name="r_hand_dh_frame"/>
  <joint name="r_hand_dh_frame_fixed_joint" type="fixed">
    <origin xyz="-0.0576542978428 -0.0055568 0.0136938323083" rpy="-1.57079632679 -0.261799319827 3.14159265359"/>
    <parent link="r_hand"/>
    <child link="r_hand_dh_frame"/>
    <dynamics damping="0.1"/>
  </joint>
  <link name="l_shoulder_1">
    <inertial>
      <origin xyz="-0.008985 -3.3e-05 -0.0088998" rpy="0 0 0"/>
      <mass value="0.114882"/>
      <inertia ixx="0.01" ixy="-1.77064e-08" ixz="3.55951e-06" iyy="0.01" iyz="6.57597e-08" izz="0.01"/>
    </inertial>
    <visual>
      <origin xyz="-0.120257482 0 -0.032223" rpy="0 0 0"/>
      <geometry>
        <mesh filename="package://meshes/sim_sea_2-5_l_shoulder_1_prt-binary.stl" scale="0.001 0.001 0.001"/>
      </geometry>
      <material name="yellow">
        <color rgba="1 1 0 1"/>
      </material>
    </visual>
    <collision>
      <origin xyz="-0.120257482 0 -0.032223" rpy="0 0 0"/>
      <geometry>
        <mesh filename="package://meshes/sim_sea_2-5_l_shoulder_1_prt-binary.stl" scale="0.001 0.001 0.001"/>
      </geometry>
    </collision>
  </link>
  <joint name="l_shoulder_pitch" type="revolute">
    <origin xyz="0.120016000191 0.0928 0.0079693" rpy="0 0 0"/>
    <axis xyz="0.965926 0.0 0.258819"/>
    <parent link="chest"/>
    <child link="l_shoulder_1"/>
    <limit effort="50000" lower="-1.66678943565" upper="0.174532925199" velocity="50000"/>
    <dynamics damping="1.0" friction="0.0"/>
  </joint>
  <link name="l_shoulder_2">
    <inertial>
      <origin xyz="0.0214745951272 0.000268957899687 -0.0194107361535" rpy="0 0 0"/>
      <mass value="0.238162"/>
      <inertia ixx="0.01" ixy="1.19701e-07" ixz="-1.29687e-05" iyy="0.01" iyz="1.20112e-06" izz="0.01"/>
    </inertial>
    <visual>
      <origin xyz="-0.106586691581 1.10800934344e-07 -0.040743380771" rpy="0 0 0"/>
      <geometry>
        <mesh filename="package://meshes/sim_sea_2-5_l_shoulder_2_prt-binary.stl" scale="0.001 0.001 0.001"/>
      </geometry>
      <material name="pink">
        <color rgba="1 0 1 1"/>
      </material>
    </visual>
    <collision>
      <origin xyz="-0.106586691581 1.10800934344e-07 -0.040743380771" rpy="0 0 0"/>
      <geometry>
        <mesh filename="package://meshes/sim_sea_2-5_l_shoulder_2_prt-binary.stl" scale="0.001 0.001 0.001"/>
      </geometry>
    </collision>
  </link>
  <joint name="l_shoulder_roll" type="revolute">
    <origin xyz="-0.013671 0 0.0085204" rpy="0.270597317916 0.252680177542 -1.50155688559"/>
    <axis xyz="-0.258819 2.77555756156e-17 0.965926"/>
    <parent link="l_shoulder_1"/>
    <child link="l_shoulder_2"/>
    <limit effort="50000" lower="0.0" upper="2.80648943721" velocity="50000"/>
    <dynamics damping="1.0" friction="0.0"/>
  </joint>
  <link name="l_shoulder_3">
    <inertial>
      <origin xyz="0.026798412222 -1.6e-05 0.0146956806177" rpy="0 0 0"/>
      <mass value="0.35913"/>
      <inertia ixx="0.01" ixy="-2.22441e-07" ixz="-4.95846e-05" iyy="0.01" iyz="1.07538e-07" izz="0.01"/>
    </inertial>
    <visual>
      <origin xyz="-0.131901037685 0 -0.0353427669194" rpy="0 0 0"/>
      <geometry>
        <mesh filename="package://meshes/sim_sea_2-5_l_upper_arm_prt-binary.stl" scale="0.001 0.001 0.001"/>
      </geometry>
      <material name="cyan">
        <color rgba="0 1 1 1"/>
      </material>
    </visual>
    <collision>
      <origin xyz="-0.131901037685 0 -0.0353427669194" rpy="0 0 0"/>
      <geometry>
        <mesh filename="package://meshes/sim_sea_2-5_l_upper_arm_prt-binary.stl" scale="0.001 0.001 0.001"/>
      </geometry>
    </collision>
  </link>
  <joint name="l_shoulder_yaw" type="revolute">
    <origin xyz="0.0253143468312 1.11636438205e-07 -0.00540061656265" rpy="-0.252689546175 -0.0085186183214 -0.067039889142"/>
    <axis xyz="0.965925843882 2.22044604925e-16 0.258818979447"/>
    <parent link="l_shoulder_2"/>
    <child link="l_shoulder_3"/>
    <limit effort="50000" lower="-0.645771823238" upper="1.3962634016" velocity="50000"/>
    <dynamics damping="1.0" friction="0.0"/>
  </joint>
  <link name="l_upper_arm">
    <inertial>
      <origin xyz="-0.006121 -0.000189 0.0293684" rpy="0 -1.30899700697 -3.14159265359"/>
      <mass value="0.746799"/>
      <inertia ixx="0.000509731" ixy="-6.90767e-07" ixz="1.20048e-05" iyy="0.00067086" iyz="3.11833e-06" izz="0.000601202"/>
    </inertial>
    <visual>
      <origin xyz="-0.015 0 -0.1933" rpy="0 -1.30899700697 -3.14159265359"/>
      <geometry>
        <mesh filename="package://meshes/sim_sea_2-5_l_elbow_prt-binary.stl" scale="0.001 0.001 0.001"/>
      </geometry>
      <material name="green">
        <color rgba="0 1 0 1"/>
      </material>
    </visual>
    <collision>
      <origin xyz="-0.015 0 -0.1933" rpy="0 -1.30899700697 -3.14159265359"/>
      <geometry>
        <mesh filename="package://meshes/sim_sea_2-5_l_elbow_prt-binary.stl" scale="0.001 0.001 0.001"/>
      </geometry>
    </collision>
  </link>
  <joint name="l_arm_ft_sensor" type="fixed">
    <origin xyz="0.0509301432452 0 0.0291758294659" rpy="0 -1.30899700697 3.14159265359"/>
    <parent link="l_shoulder_3"/>
    <child link="l_upper_arm"/>
    <dynamics damping="0.1"/>
  </joint>
  <link name="l_elbow_1">
    <inertial>
      <origin xyz="0.00673912932843 0.0303019 -0.00465769236154" rpy="0 0 0"/>
      <mass value="0.267903"/>
      <inertia ixx="0.01" ixy="-7.37159e-06" ixz="1.04505e-05" iyy="0.01" iyz="3.9319e-06" izz="0.01"/>
    </inertial>
    <visual>
      <origin xyz="-0.259390463317 0.0339999 -0.0850325886962" rpy="0 0 0"/>
      <geometry>
        <mesh filename="package://meshes/sim_sea_2-5_l_elbow_prosup_prt-binary.stl" scale="0.001 0.001 0.001"/>
      </geometry>
      <material name="white">
        <color rgba="1 1 1 1"/>
      </material>
    </visual>
    <collision>
      <origin xyz="-0.259390463317 0.0339999 -0.0850325886962" rpy="0 0 0"/>
      <geometry>
        <mesh filename="package://meshes/sim_sea_2-5_l_elbow_prosup_prt-binary.stl" scale="0.001 0.001 0.001"/>
      </geometry>
    </collision>
  </link>
  <joint name="l_elbow" type="revolute">
    <origin xyz="0 0.0339999 0.07926" rpy="0 -1.30899700697 -3.14159265359"/>
    <axis xyz="2.22044604925e-16 -1.0 0.0"/>
    <parent link="l_upper_arm"/>
    <child link="l_elbow_1"/>
    <limit effort="50000" lower="0.261799387799" upper="1.85004900711" velocity="50000"/>
    <dynamics damping="1.0" friction="0.0"/>
  </joint>
  <link name="l_forearm">
    <inertial>
      <origin xyz="0.0404511828823 -0.000686 0.00532363214379" rpy="0 0 0"/>
      <mass value="0.636185"/>
      <inertia ixx="0.000371447" ixy="4.34562e-06" ixz="-0.000105871" iyy="0.000674229" iyz="4.05222e-06" izz="0.000557115"/>
    </inertial>
    <visual>
      <origin xyz="-0.296886967375 0 -0.0795506015227" rpy="0 0 0"/>
      <geometry>
        <mesh filename="package://meshes/sim_sea_2-5_l_forearm_prt-binary.stl" scale="0.001 0.001 0.001"/>
      </geometry>
      <material name="dblue">
        <color rgba="0 0 0.8 1"/>
      </material>
    </visual>
    <collision>
      <origin xyz="-0.296886967375 0 -0.0795506015227" rpy="0 0 0"/>
      <geometry>
        <mesh filename="package://meshes/sim_sea_2-5_l_forearm_prt-binary.stl" scale="0.001 0.001 0.001"/>
      </geometry>
    </collision>
  </link>
  <joint name="l_wrist_prosup" type="revolute">
    <origin xyz="0.0384624299027 0.0339999 -0.00522316819403" rpy="0 0 0"/>
    <axis xyz="0.965925843882 2.22044604925e-16 0.258818979447"/>
    <parent link="l_elbow_1"/>
    <child link="l_forearm"/>
    <limit effort="50000" lower="-1.0471975512" upper="1.0471975512" velocity="50000"/>
    <dynamics damping="1.0" friction="0.0"/>
  </joint>
  <link name="l_forearm_skin_0"/>
  <joint name="l_forearm_skin_0_fixed_joint" type="fixed">
    <origin xyz="0.0454493286618 -0.0323169 -0.00628656037901" rpy="1.69181522292 -0.271026744341 0.0727882713185"/>
    <parent link="l_forearm"/>
    <child link="l_forearm_skin_0"/>
    <dynamics damping="0.1"/>
  </joint>
  <link name="l_forearm_skin_1"/>
  <joint name="l_forearm_skin_1_fixed_joint" type="fixed">
    <origin xyz="0.0333728935826 -0.0310662 -0.0198456867711" rpy="1.86694023278 -0.274442533764 0.0421228737473"/>
    <parent link="l_forearm"/>
    <child link="l_forearm_skin_1"/>
    <dynamics damping="0.1"/>
  </joint>
  <link name="l_forearm_skin_2"/>
  <joint name="l_forearm_skin_2_fixed_joint" type="fixed">
    <origin xyz="0.0146988929852 -0.0335184 -0.0160117338371" rpy="1.72847287019 -0.264015219116 0.0142600467197"/>
    <parent link="l_forearm"/>
    <child link="l_forearm_skin_2"/>
    <dynamics damping="0.1"/>
  </joint>
  <link name="l_forearm_skin_3"/>
  <joint name="l_forearm_skin_3_fixed_joint" type="fixed">
    <origin xyz="0.045567293622 0.028651 -0.00633000929351" rpy="-1.69487280859 -0.269757727104 -0.061995217851"/>
    <parent link="l_forearm"/>
    <child link="l_forearm_skin_3"/>
    <dynamics damping="0.1"/>
  </joint>
  <link name="l_forearm_skin_4"/>
  <joint name="l_forearm_skin_4_fixed_joint" type="fixed">
    <origin xyz="0.0635326332996 0.025877 -0.00899784258066" rpy="-1.81747870108 -0.287406884885 -0.0998316152826"/>
    <parent link="l_forearm"/>
    <child link="l_forearm_skin_4"/>
    <dynamics damping="0.1"/>
  </joint>
  <link name="l_forearm_skin_5"/>
  <joint name="l_forearm_skin_5_fixed_joint" type="fixed">
    <origin xyz="0.0688211941968 0.015709 -0.0231133361791" rpy="-2.5410475806 -0.385627260642 -0.0867227569203"/>
    <parent link="l_forearm"/>
    <child link="l_forearm_skin_5"/>
    <dynamics damping="0.1"/>
  </joint>
  <link name="l_forearm_skin_6"/>
  <joint name="l_forearm_skin_6_fixed_joint" type="fixed">
    <origin xyz="0.0333948436255 0.027308 -0.0198325583433" rpy="-1.86628164653 -0.272886336181 -0.0371068033783"/>
    <parent link="l_forearm"/>
    <child link="l_forearm_skin_6"/>
    <dynamics damping="0.1"/>
  </joint>
  <link name="l_forearm_skin_7"/>
  <joint name="l_forearm_skin_7_fixed_joint" type="fixed">
    <origin xyz="0.0147224260074 0.029702 -0.0159326482703" rpy="-1.72564640857 -0.263992900722 -0.0143801109253"/>
    <parent link="l_forearm"/>
    <child link="l_forearm_skin_7"/>
    <dynamics damping="0.1"/>
  </joint>
  <link name="l_forearm_skin_8"/>
  <joint name="l_forearm_skin_8_fixed_joint" type="fixed">
    <origin xyz="0.0228528628554 0.007546 -0.041885146375" rpy="-2.94801979137 -0.270605090512 -0.00178708074348"/>
    <parent link="l_forearm"/>
    <child link="l_forearm_skin_8"/>
    <dynamics damping="0.1"/>
  </joint>
  <link name="l_forearm_skin_9"/>
  <joint name="l_forearm_skin_9_fixed_joint" type="fixed">
    <origin xyz="0.0376032734683 0.016715 -0.0340163371186" rpy="-2.58406517708 -0.2933217196 -0.0203085796276"/>
    <parent link="l_forearm"/>
    <child link="l_forearm_skin_9"/>
    <dynamics damping="0.1"/>
  </joint>
  <link name="l_forearm_skin_10"/>
  <joint name="l_forearm_skin_10_fixed_joint" type="fixed">
    <origin xyz="0.0542285210888 0.007546 -0.0321469082866" rpy="-2.94123313406 -0.328304471922 -0.0139662781936"/>
    <parent link="l_forearm"/>
    <child link="l_forearm_skin_10"/>
    <dynamics damping="0.1"/>
  </joint>
  <link name="l_forearm_skin_11"/>
  <joint name="l_forearm_skin_11_fixed_joint" type="fixed">
    <origin xyz="0.0542240912024 -0.0112832 -0.0321431259452" rpy="2.93929835957 -0.329101389745 0.0142734891292"/>
    <parent link="l_forearm"/>
    <child link="l_forearm_skin_11"/>
    <dynamics damping="0.1"/>
  </joint>
  <link name="l_forearm_skin_12"/>
  <joint name="l_forearm_skin_12_fixed_joint" type="fixed">
    <origin xyz="0.0375994633868 -0.0204556 -0.0340191179961" rpy="2.58303505964 -0.29483050207 0.021326850448"/>
    <parent link="l_forearm"/>
    <child link="l_forearm_skin_12"/>
    <dynamics damping="0.1"/>
  </joint>
  <link name="l_forearm_skin_13"/>
  <joint name="l_forearm_skin_13_fixed_joint" type="fixed">
    <origin xyz="0.0228550868405 -0.0112878 -0.0418919009209" rpy="2.94896679198 -0.270583947189 0.00177385006765"/>
    <parent link="l_forearm"/>
    <child link="l_forearm_skin_13"/>
    <dynamics damping="0.1"/>
  </joint>
  <link name="l_forearm_skin_14"/>
  <joint name="l_forearm_skin_14_fixed_joint" type="fixed">
    <origin xyz="0.0687703276364 -0.0193999 -0.0230239558511" rpy="2.52462250363 -0.387794511771 0.0912924111683"/>
    <parent link="l_forearm"/>
    <child link="l_forearm_skin_14"/>
    <dynamics damping="0.1"/>
  </joint>
  <link name="l_forearm_skin_15"/>
  <joint name="l_forearm_skin_15_fixed_joint" type="fixed">
    <origin xyz="0.0633786419662 -0.0293843 -0.00879405455544" rpy="1.80492769741 -0.289783281916 0.113933739306"/>
    <parent link="l_forearm"/>
    <child link="l_forearm_skin_15"/>
    <dynamics damping="0.1"/>
  </joint>
  <link name="l_forearm_skin_16"/>
  <joint name="l_forearm_skin_16_fixed_joint" type="fixed">
    <origin xyz="0.03792482187 -0.0327268 0.0206369503605" rpy="1.41280007026 -0.25082462139 0.0758652301584"/>
    <parent link="l_forearm"/>
    <child link="l_forearm_skin_16"/>
    <dynamics damping="0.1"/>
  </joint>
  <link name="l_forearm_skin_17"/>
  <joint name="l_forearm_skin_17_fixed_joint" type="fixed">
    <origin xyz="0.0543170548821 -0.0299646 0.0303291240179" rpy="1.27223716205 -0.23059304703 0.109637225219"/>
    <parent link="l_forearm"/>
    <child link="l_forearm_skin_17"/>
    <dynamics damping="0.1"/>
  </joint>
  <link name="l_forearm_skin_19"/>
  <joint name="l_forearm_skin_19_fixed_joint" type="fixed">
    <origin xyz="0.0381266107138 0.029054 0.020690605393" rpy="-1.41560888703 -0.252569290226 -0.0644404747027"/>
    <parent link="l_forearm"/>
    <child link="l_forearm_skin_19"/>
    <dynamics damping="0.1"/>
  </joint>
  <link name="l_forearm_skin_22"/>
  <joint name="l_forearm_skin_22_fixed_joint" type="fixed">
    <origin xyz="0.0544173950421 0.026483 0.0306037516609" rpy="-1.2658242728 -0.234328151379 -0.0937094738802"/>
    <parent link="l_forearm"/>
    <child link="l_forearm_skin_22"/>
    <dynamics damping="0.1"/>
  </joint>
  <link name="l_forearm_skin_24"/>
  <joint name="l_forearm_skin_24_fixed_joint" type="fixed">
    <origin xyz="0.0700345319564 0.007477 0.050069108714" rpy="-0.23489327644 -0.0388172993982 -0.0548291989999"/>
    <parent link="l_forearm"/>
    <child link="l_forearm_skin_24"/>
    <dynamics damping="0.1"/>
  </joint>
  <link name="l_forearm_skin_25"/>
  <joint name="l_forearm_skin_25_fixed_joint" type="fixed">
    <origin xyz="0.0535999216295 0.015984 0.0454698125045" rpy="-0.564295527715 -0.136980272197 -0.0819608256656"/>
    <parent link="l_forearm"/>
    <child link="l_forearm_skin_25"/>
    <dynamics damping="0.1"/>
  </joint>
  <link name="l_forearm_skin_28"/>
  <joint name="l_forearm_skin_28_fixed_joint" type="fixed">
    <origin xyz="0.0535859272148 -0.0196522 0.045352037397" rpy="0.579311106949 -0.133994306778 0.0867597858312"/>
    <parent link="l_forearm"/>
    <child link="l_forearm_skin_28"/>
    <dynamics damping="0.1"/>
  </joint>
  <link name="l_forearm_skin_29"/>
  <joint name="l_forearm_skin_29_fixed_joint" type="fixed">
    <origin xyz="0.0700355805031 -0.0111936 0.0500111036233" rpy="0.248630982209 -0.0383136556786 0.0583026624266"/>
    <parent link="l_forearm"/>
    <child link="l_forearm_skin_29"/>
    <dynamics damping="0.1"/>
  </joint>
  <link name="l_forearm_dh_frame"/>
  <joint name="l_forearm_dh_frame_fixed_joint" type="fixed">
    <origin xyz="0.102871102373 7.00000000002e-06 0.0275642213111" rpy="2.87979333376 0 1.57079632679"/>
    <parent link="l_forearm"/>
    <child link="l_forearm_dh_frame"/>
    <dynamics damping="0.1"/>
  </joint>
  <link name="l_wrist_1">
    <inertial>
      <origin xyz="-0.000981313804428 -0.001178 0.00408345773913" rpy="0 0 0"/>
      <mass value="0.0362152"/>
      <inertia ixx="0.01" ixy="3.08362e-08" ixz="9.42153e-07" iyy="0.01" iyz="-1.58924e-07" izz="0.01"/>
    </inertial>
    <visual>
      <origin xyz="-0.400314530555 -7.00000000009e-06 -0.105038082269" rpy="0 0 0"/>
      <geometry>
        <mesh filename="package://meshes/sim_sea_2-5_l_wrist_pitch_prt-binary.stl" scale="0.001 0.001 0.001"/>
      </geometry>
      <material name="dgreen">
        <color rgba="0.1 0.8 0.1 1"/>
      </material>
    </visual>
    <collision>
      <origin xyz="-0.400314530555 -7.00000000009e-06 -0.105038082269" rpy="0 0 0"/>
      <geometry>
        <mesh filename="package://meshes/sim_sea_2-5_l_wrist_pitch_prt-binary.stl" scale="0.001 0.001 0.001"/>
      </geometry>
    </collision>
  </link>
  <joint name="l_wrist_pitch" type="revolute">
    <origin xyz="0.103427563179 7.00000000002e-06 0.0254874807467" rpy="0 0 0"/>
    <axis xyz="0.258818979447 0.0 -0.965925843882"/>
    <parent link="l_forearm"/>
    <child link="l_wrist_1"/>
    <limit effort="50000" lower="-1.3962634016" upper="0.436332312999" velocity="50000"/>
    <dynamics damping="1.0" friction="0.0"/>
  </joint>
  <link name="l_hand">
    <inertial>
      <origin xyz="0.0647680204057 0.0056304 0.0226602208449" rpy="0 0 0"/>
      <mass value="0.247806"/>
      <inertia ixx="0.01" ixy="2.96453e-06" ixz="-3.68906e-05" iyy="0.01" iyz="2.06885e-05" izz="0.01"/>
    </inertial>
    <visual>
      <origin xyz="-0.399680424055 0.0194929 -0.107404600587" rpy="0 0 0"/>
      <geometry>
        <mesh filename="package://meshes/sim_sea_2-5_l_hand_prt-binary.stl" scale="0.001 0.001 0.001"/>
      </geometry>
      <material name="gray">
        <color rgba="0.5 0.5 0.5 1"/>
      </material>
    </visual>
    <collision>
      <origin xyz="-0.399680424055 0.0194929 -0.107404600587" rpy="0 0 0"/>
      <geometry>
        <mesh filename="package://meshes/sim_sea_2-5_l_hand_prt-binary.stl" scale="0.001 0.001 0.001"/>
      </geometry>
    </collision>
  </link>
  <joint name="l_wrist_yaw" type="revolute">
    <origin xyz="-0.000634106499644 -0.0194999 0.00236651831751" rpy="0 0 0"/>
    <axis xyz="-2.22044604925e-16 1.0 0.0"/>
    <parent link="l_wrist_1"/>
    <child link="l_hand"/>
    <limit effort="50000" lower="-0.349065850399" upper="0.436332312999" velocity="50000"/>
    <dynamics damping="1.0" friction="0.0"/>
  </joint>
  <link name="l_hand_dh_frame"/>
  <joint name="l_hand_dh_frame_fixed_joint" type="fixed">
    <origin xyz="0.0576542978428 -0.0055568 0.0136938323083" rpy="-1.57079632679 -0.261799319827 0"/>
    <parent link="l_hand"/>
    <child link="l_hand_dh_frame"/>
    <dynamics damping="0.1"/>
  </joint>
  <link name="neck_1">
    <inertial>
      <origin xyz="0.0143705608 0.006567 -0.0063842" rpy="0 0 0"/>
      <mass value="0.125793"/>
      <inertia ixx="0.01" ixy="8.09156e-08" ixz="-3.74998e-08" iyy="0.01" iyz="9.39717e-06" izz="0.01"/>
    </inertial>
    <visual>
      <origin xyz="0.0142999998093 -0.079997 -0.0295008" rpy="0 0 0"/>
      <geometry>
        <mesh filename="package://meshes/sim_sea_2-5_neck_1_prt-binary.stl" scale="0.001 0.001 0.001"/>
      </geometry>
      <material name="green">
        <color rgba="0 1 0 1"/>
      </material>
    </visual>
    <collision>
      <origin xyz="0.0142999998093 -0.079997 -0.0295008" rpy="0 0 0"/>
      <geometry>
        <mesh filename="package://meshes/sim_sea_2-5_neck_1_prt-binary.stl" scale="0.001 0.001 0.001"/>
      </geometry>
    </collision>
  </link>
  <joint name="neck_pitch" type="revolute">
    <origin xyz="-0.0142999998093 0.172797 0.0053118" rpy="0 0 0"/>
    <axis xyz="-1.0 0.0 0.0"/>
    <parent link="chest"/>
    <child link="neck_1"/>
    <limit effort="50000" lower="-0.698131700798" upper="0.383972435439" velocity="50000"/>
    <dynamics damping="1.0" friction="0.0"/>
  </joint>
  <link name="neck_2">
    <inertial>
      <origin xyz="-8.8573009265e-05 0.035225 -0.01954527" rpy="0 0 0"/>
      <mass value="0.177087"/>
      <inertia ixx="0.01" ixy="-5.25591e-07" ixz="4.68307e-07" iyy="0.01" iyz="9.81476e-06" izz="0.01"/>
    </inertial>
    <visual>
      <origin xyz="0 -0.089497 -0.05030077" rpy="0 0 0"/>
      <geometry>
        <mesh filename="package://meshes/sim_sea_2-5_neck_2_prt-binary.stl" scale="0.001 0.001 0.001"/>
      </geometry>
      <material name="black">
        <color rgba="0 0 0 1"/>
      </material>
    </visual>
    <collision>
      <origin xyz="0 -0.089497 -0.05030077" rpy="0 0 0"/>
      <geometry>
        <mesh filename="package://meshes/sim_sea_2-5_neck_2_prt-binary.stl" scale="0.001 0.001 0.001"/>
      </geometry>
    </collision>
  </link>
  <joint name="neck_roll" type="revolute">
    <origin xyz="0.0142999998093 0.0095 0.02079997" rpy="0 0 0"/>
    <axis xyz="0.0 0.0 1.0"/>
    <parent link="neck_1"/>
    <child link="neck_2"/>
    <limit effort="50000" lower="-0.349065850399" upper="0.349065850399" velocity="50000"/>
    <dynamics damping="1.0" friction="0.0"/>
  </joint>
  <link name="head">
    <inertial>
      <origin xyz="-0.000574157809265 0.113511 -0.0075392" rpy="0 0 0"/>
      <mass value="1.50691"/>
      <inertia ixx="0.00680478" ixy="-1.60267e-05" ixz="7.28166e-05" iyy="0.00634736" iyz="0.000292091" izz="0.00478116"/>
    </inertial>
    <visual>
      <origin xyz="0 -0.067153 -0.0295008" rpy="0 0 0"/>
      <geometry>
        <mesh filename="package://meshes/sim_sea_2-5_head_prt-binary.stl" scale="0.001 0.001 0.001"/>
      </geometry>
      <material name="red">
        <color rgba="1 0 0 1"/>
      </material>
    </visual>
    <collision>
      <origin xyz="0 -0.067153 -0.0295008" rpy="0 0 0"/>
      <geometry>
        <mesh filename="package://meshes/sim_sea_2-5_head_prt-binary.stl" scale="0.001 0.001 0.001"/>
      </geometry>
    </collision>
  </link>
  <joint name="neck_yaw" type="revolute">
    <origin xyz="0 -0.022344 -0.02079997" rpy="0 0 0"/>
    <axis xyz="0.0 1.0 0.0"/>
    <parent link="neck_2"/>
    <child link="head"/>
    <limit effort="50000" lower="-0.872664625997" upper="0.872664625997" velocity="50000"/>
    <dynamics damping="1.0" friction="0.0"/>
  </joint>
  <link name="imu_frame"/>
  <joint name="imu_frame_fixed_joint" type="fixed">
    <origin xyz="0.00950000019074 0.133444 0.0093" rpy="-1.57079632679 1.57079632679 0"/>
    <parent link="head"/>
    <child link="imu_frame"/>
    <dynamics damping="0.1"/>
  </joint>
  <link name="base_link"/>
  <joint name="base_fixed_joint" type="fixed">
  <origin xyz="0 0 0" rpy="0 -0 0"/>
  <axis xyz="0 0 0"/>
  <parent link="base_link"/>
  <child link="root_link"/>
</joint>
  <link name="l_foot_dh_frame"/>
  <joint name="l_foot_dh_frame_fixed_joint" type="fixed">
  <origin xyz="0.0 0 0.004" rpy="0 1.5708 0"/>
  <axis xyz="0 0 0"/>
  <parent link="l_foot"/>
  <child link="l_foot_dh_frame"/>
</joint>
  <link name="r_foot_dh_frame"/>
  <joint name="r_foot_dh_frame_fixed_joint" type="fixed">
  <origin xyz="0.0 0 0.004" rpy="0 1.5708 0"/>
  <axis xyz="0 0 0"/>
  <parent link="r_foot"/>
  <child link="r_foot_dh_frame"/>
</joint>
  <!-- <gazebo reference="r_arm_ft_sensor">
  <disableFixedJointLumping>true</disableFixedJointLumping>
</gazebo>
  <gazebo reference="l_arm_ft_sensor">
  <disableFixedJointLumping>true</disableFixedJointLumping>
</gazebo>
  <gazebo reference="r_leg_ft_sensor">
  <disableFixedJointLumping>true</disableFixedJointLumping>
</gazebo>
  <gazebo reference="l_leg_ft_sensor">
  <disableFixedJointLumping>true</disableFixedJointLumping>
</gazebo>
  <gazebo reference="r_foot_ft_sensor">
  <disableFixedJointLumping>true</disableFixedJointLumping>
</gazebo>
  <gazebo reference="l_foot_ft_sensor">
  <disableFixedJointLumping>true</disableFixedJointLumping>
</gazebo>
  <gazebo reference="l_foot">
  <collision> <surface> <bounce>
    <restitution_coefficient>0</restitution_coefficient>
    <threshold>100000</threshold>
  </bounce> </surface> </collision>
  <maxContacts>4</maxContacts>
  <kp>18000000</kp>
  <kd>100</kd>
  <maxVel>100</maxVel>
  <minDepth>0.0001</minDepth>
  <mu1>1</mu1>
  <mu2>1</mu2>
  <fdir1>0 0 0</fdir1>
</gazebo>
  <gazebo reference="r_foot">
  <collision> <surface> <bounce>
    <restitution_coefficient>0</restitution_coefficient>
    <threshold>100000</threshold>
  </bounce> </surface> </collision>
  <maxContacts>4</maxContacts>
  <kp>18000000</kp>
  <kd>100</kd>
  <maxVel>100</maxVel>
  <minDepth>0.0001</minDepth>
  <mu1>1</mu1>
  <mu2>1</mu2>
  <fdir1>0 0 0</fdir1>
</gazebo>
  <gazebo>
<plugin name="iCub_yarp_gazebo_plugin_ACCpart" filename="libgazebo_yarp_distributedinertials.so">
  <yarpConfigurationFile>model://iCub/conf/MTB/gazebo_icub_left_leg_mtb.ini</yarpConfigurationFile>
</plugin>
<plugin name="iCub_yarp_gazebo_plugin_ACCpart" filename="libgazebo_yarp_distributedinertials.so">
  <yarpConfigurationFile>model://iCub/conf/MTB/gazebo_icub_right_leg_mtb.ini</yarpConfigurationFile>
</plugin>
<plugin name="iCub_yarp_gazebo_plugin_ACCpart" filename="libgazebo_yarp_distributedinertials.so">
  <yarpConfigurationFile>model://iCub/conf/MTB/gazebo_icub_left_arm_mtb.ini</yarpConfigurationFile>
</plugin>
<plugin name="iCub_yarp_gazebo_plugin_ACCpart" filename="libgazebo_yarp_distributedinertials.so">
  <yarpConfigurationFile>model://iCub/conf/MTB/gazebo_icub_right_arm_mtb.ini</yarpConfigurationFile>
</plugin>
<plugin name="iCub_yarp_gazebo_plugin_ACCpart" filename="libgazebo_yarp_distributedinertials.so">
  <yarpConfigurationFile>model://iCub/conf/MTB/gazebo_icub_torso_mtb.ini</yarpConfigurationFile>
</plugin>
<plugin name="controlboard_torso" filename="libgazebo_yarp_controlboard.so">
  <yarpConfigurationFile>model://iCub/conf/gazebo_icub_torso.ini</yarpConfigurationFile>
</plugin>
<plugin name="controlboard_head_without_eyes" filename="libgazebo_yarp_controlboard.so">
  <yarpConfigurationFile>model://iCub/conf/gazebo_icub_head_without_eyes.ini</yarpConfigurationFile>
</plugin>
<plugin name="controlboard_left_arm_no_hand" filename="libgazebo_yarp_controlboard.so">
  <yarpConfigurationFile>model://iCub/conf/gazebo_icub_left_arm_no_hand_for_no_hand_model.ini</yarpConfigurationFile>
  <initialConfiguration>-0.52 0.52 0 0.785 0 0 0.0</initialConfiguration>
</plugin>
<plugin name="controlboard_right_arm_no_hand" filename="libgazebo_yarp_controlboard.so">
  <yarpConfigurationFile>model://iCub/conf/gazebo_icub_right_arm_no_hand_for_no_hand_model.ini</yarpConfigurationFile>
  <initialConfiguration>-0.52 0.52 0 0.785 0 0 0.0</initialConfiguration>
</plugin>
<plugin name="controlboard_right_leg" filename="libgazebo_yarp_controlboard.so">
  <yarpConfigurationFile>model://iCub/conf/gazebo_icub_right_leg.ini</yarpConfigurationFile>
</plugin>
<plugin name="controlboard_left_leg" filename="libgazebo_yarp_controlboard.so">
  <yarpConfigurationFile>model://iCub/conf/gazebo_icub_left_leg.ini</yarpConfigurationFile>
</plugin>
<plugin name="apply_external_wrench" filename="libgazebo_yarp_externalwrench.so">
  <robotNamefromConfigFile>model://iCub/conf/gazebo_icub_robotname.ini</robotNamefromConfigFile>
</plugin>
</gazebo>
  <gazebo reference="r_hip_pitch">
   <implicitSpringDamper>1</implicitSpringDamper>
</gazebo>
  <gazebo reference="r_hip_roll">
   <implicitSpringDamper>1</implicitSpringDamper>
</gazebo>
  <gazebo reference="r_hip_yaw">
   <implicitSpringDamper>1</implicitSpringDamper>
</gazebo>
  <gazebo reference="r_knee">
   <implicitSpringDamper>1</implicitSpringDamper>
</gazebo>
  <gazebo reference="r_ankle_pitch">
   <implicitSpringDamper>1</implicitSpringDamper>
</gazebo>
  <gazebo reference="r_ankle_roll">
   <implicitSpringDamper>1</implicitSpringDamper>
</gazebo>
  <gazebo reference="l_hip_pitch">
   <implicitSpringDamper>1</implicitSpringDamper>
</gazebo>
  <gazebo reference="l_hip_roll">
   <implicitSpringDamper>1</implicitSpringDamper>
</gazebo>
  <gazebo reference="l_hip_yaw">
   <implicitSpringDamper>1</implicitSpringDamper>
</gazebo>
  <gazebo reference="l_knee">
   <implicitSpringDamper>1</implicitSpringDamper>
</gazebo>
  <gazebo reference="l_ankle_pitch">
   <implicitSpringDamper>1</implicitSpringDamper>
</gazebo>
  <gazebo reference="l_ankle_roll">
   <implicitSpringDamper>1</implicitSpringDamper>
</gazebo>
  <gazebo reference="torso_pitch">
   <implicitSpringDamper>1</implicitSpringDamper>
</gazebo>
  <gazebo reference="torso_roll">
   <implicitSpringDamper>1</implicitSpringDamper>
</gazebo>
  <gazebo reference="torso_yaw">
   <implicitSpringDamper>1</implicitSpringDamper>
</gazebo>
  <gazebo reference="r_shoulder_pitch">
   <implicitSpringDamper>1</implicitSpringDamper>
</gazebo>
  <gazebo reference="r_shoulder_roll">
   <implicitSpringDamper>1</implicitSpringDamper>
</gazebo>
  <gazebo reference="r_shoulder_yaw">
   <implicitSpringDamper>1</implicitSpringDamper>
</gazebo>
  <gazebo reference="r_elbow">
   <implicitSpringDamper>1</implicitSpringDamper>
</gazebo>
  <gazebo reference="r_wrist_prosup">
   <implicitSpringDamper>1</implicitSpringDamper>
</gazebo>
  <gazebo reference="r_wrist_pitch">
   <implicitSpringDamper>1</implicitSpringDamper>
</gazebo>
  <gazebo reference="r_wrist_yaw">
   <implicitSpringDamper>1</implicitSpringDamper>
</gazebo>
  <gazebo reference="l_shoulder_pitch">
   <implicitSpringDamper>1</implicitSpringDamper>
</gazebo>
  <gazebo reference="l_shoulder_roll">
   <implicitSpringDamper>1</implicitSpringDamper>
</gazebo>
  <gazebo reference="l_shoulder_yaw">
   <implicitSpringDamper>1</implicitSpringDamper>
</gazebo>
  <gazebo reference="l_elbow">
   <implicitSpringDamper>1</implicitSpringDamper>
</gazebo>
  <gazebo reference="l_wrist_prosup">
   <implicitSpringDamper>1</implicitSpringDamper>
</gazebo>
  <gazebo reference="l_wrist_pitch">
   <implicitSpringDamper>1</implicitSpringDamper>
</gazebo>
  <gazebo reference="l_wrist_yaw">
   <implicitSpringDamper>1</implicitSpringDamper>
</gazebo>
  <gazebo reference="neck_pitch">
   <implicitSpringDamper>1</implicitSpringDamper>
</gazebo>
  <gazebo reference="neck_roll">
   <implicitSpringDamper>1</implicitSpringDamper>
</gazebo>
  <gazebo reference="neck_yaw">
   <implicitSpringDamper>1</implicitSpringDamper>
</gazebo>
  <gazebo reference="l_leg_ft_sensor">
    <sensor name="l_leg_ft_sensor" type="force_torque">
      <always_on>1</always_on>
      <update_rate>100</update_rate>
      <force_torque>
        <frame>child</frame>
        <measure_direction>child_to_parent</measure_direction>
      </force_torque>
      <plugin name="left_leg_ft_plugin" filename="libgazebo_yarp_forcetorque.so">
  <yarpConfigurationFile>model://iCub/conf/FT/gazebo_icub_left_leg_ft.ini</yarpConfigurationFile>
</plugin>
    </sensor>
  </gazebo>
  <sensor name="l_leg_ft_sensor" type="force_torque">
    <parent joint="l_leg_ft_sensor"/>
    <force_torque>
      <frame>child</frame>
      <measure_direction>child_to_parent</measure_direction>
    </force_torque>
  </sensor>
  <gazebo reference="r_leg_ft_sensor">
    <sensor name="r_leg_ft_sensor" type="force_torque">
      <always_on>1</always_on>
      <update_rate>100</update_rate>
      <force_torque>
        <frame>child</frame>
        <measure_direction>child_to_parent</measure_direction>
      </force_torque>
      <plugin name="right_leg_ft_plugin" filename="libgazebo_yarp_forcetorque.so">
  <yarpConfigurationFile>model://iCub/conf/FT/gazebo_icub_right_leg_ft.ini</yarpConfigurationFile>
</plugin>
    </sensor>
  </gazebo>
  <sensor name="r_leg_ft_sensor" type="force_torque">
    <parent joint="r_leg_ft_sensor"/>
    <force_torque>
      <frame>child</frame>
      <measure_direction>child_to_parent</measure_direction>
    </force_torque>
  </sensor>
  <gazebo reference="l_foot_ft_sensor">
    <sensor name="l_foot_ft_sensor" type="force_torque">
      <always_on>1</always_on>
      <update_rate>100</update_rate>
      <force_torque>
        <frame>child</frame>
        <measure_direction>child_to_parent</measure_direction>
      </force_torque>
      <plugin name="left_foot_ft_plugin" filename="libgazebo_yarp_forcetorque.so">
  <yarpConfigurationFile>model://iCub/conf/FT/gazebo_icub_left_foot_ft.ini</yarpConfigurationFile>
</plugin>
    </sensor>
  </gazebo>
  <sensor name="l_foot_ft_sensor" type="force_torque">
    <parent joint="l_foot_ft_sensor"/>
    <force_torque>
      <frame>child</frame>
      <measure_direction>child_to_parent</measure_direction>
    </force_torque>
  </sensor>
  <gazebo reference="r_foot_ft_sensor">
    <sensor name="r_foot_ft_sensor" type="force_torque">
      <always_on>1</always_on>
      <update_rate>100</update_rate>
      <force_torque>
        <frame>child</frame>
        <measure_direction>child_to_parent</measure_direction>
      </force_torque>
      <plugin name="right_foot_ft_plugin" filename="libgazebo_yarp_forcetorque.so">
  <yarpConfigurationFile>model://iCub/conf/FT/gazebo_icub_right_foot_ft.ini</yarpConfigurationFile>
</plugin>
    </sensor>
  </gazebo>
  <sensor name="r_foot_ft_sensor" type="force_torque">
    <parent joint="r_foot_ft_sensor"/>
    <force_torque>
      <frame>child</frame>
      <measure_direction>child_to_parent</measure_direction>
    </force_torque>
  </sensor>
  <gazebo reference="l_arm_ft_sensor">
    <sensor name="l_arm_ft_sensor" type="force_torque">
      <always_on>1</always_on>
      <update_rate>100</update_rate>
      <force_torque>
        <frame>child</frame>
        <measure_direction>child_to_parent</measure_direction>
      </force_torque>
      <plugin name="left_arm_ft_plugin" filename="libgazebo_yarp_forcetorque.so">
  <yarpConfigurationFile>model://iCub/conf/FT/gazebo_icub_left_arm_ft.ini</yarpConfigurationFile>
</plugin>
    </sensor>
  </gazebo>
  <sensor name="l_arm_ft_sensor" type="force_torque">
    <parent joint="l_arm_ft_sensor"/>
    <force_torque>
      <frame>child</frame>
      <measure_direction>child_to_parent</measure_direction>
    </force_torque>
  </sensor>
  <gazebo reference="r_arm_ft_sensor">
    <sensor name="r_arm_ft_sensor" type="force_torque">
      <always_on>1</always_on>
      <update_rate>100</update_rate>
      <force_torque>
        <frame>child</frame>
        <measure_direction>child_to_parent</measure_direction>
      </force_torque>
      <plugin name="right_arm_ft_plugin" filename="libgazebo_yarp_forcetorque.so">
  <yarpConfigurationFile>model://iCub/conf/FT/gazebo_icub_right_arm_ft.ini</yarpConfigurationFile>
</plugin>
    </sensor>
  </gazebo>
  <sensor name="r_arm_ft_sensor" type="force_torque">
    <parent joint="r_arm_ft_sensor"/>
    <force_torque>
      <frame>child</frame>
      <measure_direction>child_to_parent</measure_direction>
    </force_torque>
  </sensor>
  <gazebo reference="head">
    <sensor name="head_imu_acc_1x1" type="imu">
      <always_on>1</always_on>
      <update_rate>100</update_rate>
      <pose>0.00950000019074 0.133444 0.0093 -1.57079632679 1.57079632679 0.0</pose>
      <plugin name="iCub_yarp_gazebo_plugin_IMU" filename="libgazebo_yarp_imu.so">
    <yarpConfigurationFile>model://iCub/conf/gazebo_icub_inertial.ini</yarpConfigurationFile>
</plugin>
    </sensor>
  </gazebo>
  <sensor name="head_imu_acc_1x1" type="accelerometer">
    <parent link="head"/>
    <origin rpy="-1.57079632679 1.57079632679 0.0" xyz="0.00950000019074 0.133444 0.0093"/>
  </sensor>
  <gazebo reference="root_link">
    <sensor name="root_link_ems_acc_eb5" type="imu">
      <always_on>1</always_on>
      <update_rate>100</update_rate>
      <pose>0.0493308 -0.0125771 -0.115691 -3.14159265359 1.29154404503 3.14159265359</pose>
      <plugin name="iCub_yarp_gazebo_plugin_ACC" filename="libgazebo_yarp_inertial.so"/>
    </sensor>
  </gazebo>
  <sensor name="root_link_ems_acc_eb5" type="accelerometer">
    <parent link="root_link"/>
    <origin rpy="-3.14159265359 1.29154404503 3.14159265359" xyz="0.0493308 -0.0125771 -0.115691"/>
  </sensor>
  <gazebo reference="root_link">
    <sensor name="root_link_ems_gyro_eb5" type="imu">
      <always_on>1</always_on>
      <update_rate>100</update_rate>
      <pose>0.0493308 -0.0125771 -0.115691 -3.14159265359 1.29154404503 3.14159265359</pose>
    </sensor>
  </gazebo>
  <sensor name="root_link_ems_gyro_eb5" type="gyroscope">
    <parent link="root_link"/>
    <origin rpy="-3.14159265359 1.29154404503 3.14159265359" xyz="0.0493308 -0.0125771 -0.115691"/>
  </sensor>
  <gazebo reference="chest">
    <sensor name="chest_ems_acc_eb1" type="imu">
      <always_on>1</always_on>
      <update_rate>100</update_rate>
      <pose>0.0647855001907 0.064043 -0.0647091 3.1415169123 -0.261799309122 0.000292641880255</pose>
      <plugin name="iCub_yarp_gazebo_plugin_ACC" filename="libgazebo_yarp_inertial.so"/>
    </sensor>
  </gazebo>
  <sensor name="chest_ems_acc_eb1" type="accelerometer">
    <parent link="chest"/>
    <origin rpy="3.1415169123 -0.261799309122 0.000292641880255" xyz="0.0647855001907 0.064043 -0.0647091"/>
  </sensor>
  <gazebo reference="chest">
    <sensor name="chest_ems_gyro_eb1" type="imu">
      <always_on>1</always_on>
      <update_rate>100</update_rate>
      <pose>0.0692016001907 0.064548 -0.0635258 3.1415169123 -0.261799309122 0.000292641880255</pose>
    </sensor>
  </gazebo>
  <sensor name="chest_ems_gyro_eb1" type="gyroscope">
    <parent link="chest"/>
    <origin rpy="3.1415169123 -0.261799309122 0.000292641880255" xyz="0.0692016001907 0.064548 -0.0635258"/>
  </sensor>
  <gazebo reference="chest">
    <sensor name="chest_ems_acc_eb2" type="imu">
      <always_on>1</always_on>
      <update_rate>100</update_rate>
      <pose>0.0204533001907 0.088063 -0.0641645 3.14159050104 0.261799319819 3.14158433678</pose>
      <plugin name="iCub_yarp_gazebo_plugin_ACC" filename="libgazebo_yarp_inertial.so"/>
    </sensor>
  </gazebo>
  <sensor name="chest_ems_acc_eb2" type="accelerometer">
    <parent link="chest"/>
    <origin rpy="3.14159050104 0.261799319819 3.14158433678" xyz="0.0204533001907 0.088063 -0.0641645"/>
  </sensor>
  <gazebo reference="chest">
    <sensor name="chest_ems_gyro_eb2" type="imu">
      <always_on>1</always_on>
      <update_rate>100</update_rate>
      <pose>0.0160371001907 0.087559 -0.0653479 3.14159050104 0.261799319819 3.14158433678</pose>
    </sensor>
  </gazebo>
  <sensor name="chest_ems_gyro_eb2" type="gyroscope">
    <parent link="chest"/>
    <origin rpy="3.14159050104 0.261799319819 3.14158433678" xyz="0.0160371001907 0.087559 -0.0653479"/>
  </sensor>
  <gazebo reference="chest">
    <sensor name="chest_ems_acc_eb3" type="imu">
      <always_on>1</always_on>
      <update_rate>100</update_rate>
      <pose>-0.0230587998093 0.064019 -0.0758985 3.14110916203 0.261100516471 -0.000309071462555</pose>
      <plugin name="iCub_yarp_gazebo_plugin_ACC" filename="libgazebo_yarp_inertial.so"/>
    </sensor>
  </gazebo>
  <sensor name="chest_ems_acc_eb3" type="accelerometer">
    <parent link="chest"/>
    <origin rpy="3.14110916203 0.261100516471 -0.000309071462555" xyz="-0.0230587998093 0.064019 -0.0758985"/>
  </sensor>
  <gazebo reference="chest">
    <sensor name="chest_ems_gyro_eb3" type="imu">
      <always_on>1</always_on>
      <update_rate>100</update_rate>
      <pose>-0.0186416998093 0.064521 -0.0770785 3.14110916203 0.261100516471 -0.000309071462555</pose>
    </sensor>
  </gazebo>
  <sensor name="chest_ems_gyro_eb3" type="gyroscope">
    <parent link="chest"/>
    <origin rpy="3.14110916203 0.261100516471 -0.000309071462555" xyz="-0.0186416998093 0.064521 -0.0770785"/>
  </sensor>
  <gazebo reference="chest">
    <sensor name="chest_ems_acc_eb4" type="imu">
      <always_on>1</always_on>
      <update_rate>100</update_rate>
      <pose>-0.0621620998093 0.088063 -0.0529887 -3.14159050476 -0.261799319819 3.14158433987</pose>
      <plugin name="iCub_yarp_gazebo_plugin_ACC" filename="libgazebo_yarp_inertial.so"/>
    </sensor>
  </gazebo>
  <sensor name="chest_ems_acc_eb4" type="accelerometer">
    <parent link="chest"/>
    <origin rpy="-3.14159050476 -0.261799319819 3.14158433987" xyz="-0.0621620998093 0.088063 -0.0529887"/>
  </sensor>
  <gazebo reference="chest">
    <sensor name="chest_ems_gyro_eb4" type="imu">
      <always_on>1</always_on>
      <update_rate>100</update_rate>
      <pose>-0.0665783998093 0.087559 -0.0518054 -3.14159050476 -0.261799319819 3.14158433987</pose>
    </sensor>
  </gazebo>
  <sensor name="chest_ems_gyro_eb4" type="gyroscope">
    <parent link="chest"/>
    <origin rpy="-3.14159050476 -0.261799319819 3.14158433987" xyz="-0.0665783998093 0.087559 -0.0518054"/>
  </sensor>
  <gazebo reference="chest">
    <sensor name="chest_mtb_acc_0b7" type="imu">
      <always_on>1</always_on>
      <update_rate>100</update_rate>
      <pose>-0.0607539998093 -0.0017836 0.0442341 0.875167771492 0.116363734392 -1.48597350247</pose>
      <plugin name="iCub_yarp_gazebo_plugin_ACC" filename="libgazebo_yarp_inertial.so"/>
    </sensor>
  </gazebo>
  <sensor name="chest_mtb_acc_0b7" type="accelerometer">
    <parent link="chest"/>
    <origin rpy="0.875167771492 0.116363734392 -1.48597350247" xyz="-0.0607539998093 -0.0017836 0.0442341"/>
  </sensor>
  <gazebo reference="chest">
    <sensor name="chest_mtb_acc_0b8" type="imu">
      <always_on>1</always_on>
      <update_rate>100</update_rate>
      <pose>-0.0457046998093 -0.001846 0.0567427 0.500960084689 0.107313688983 -1.4778325291</pose>
      <plugin name="iCub_yarp_gazebo_plugin_ACC" filename="libgazebo_yarp_inertial.so"/>
    </sensor>
  </gazebo>
  <sensor name="chest_mtb_acc_0b8" type="accelerometer">
    <parent link="chest"/>
    <origin rpy="0.500960084689 0.107313688983 -1.4778325291" xyz="-0.0457046998093 -0.001846 0.0567427"/>
  </sensor>
  <gazebo reference="chest">
    <sensor name="chest_mtb_acc_0b9" type="imu">
      <always_on>1</always_on>
      <update_rate>100</update_rate>
      <pose>0.0439036001907 -0.0017841 0.0577221 -0.500959928973 0.107315404248 -1.66376017469</pose>
      <plugin name="iCub_yarp_gazebo_plugin_ACC" filename="libgazebo_yarp_inertial.so"/>
    </sensor>
  </gazebo>
  <sensor name="chest_mtb_acc_0b9" type="accelerometer">
    <parent link="chest"/>
    <origin rpy="-0.500959928973 0.107315404248 -1.66376017469" xyz="0.0439036001907 -0.0017841 0.0577221"/>
  </sensor>
  <gazebo reference="chest">
    <sensor name="chest_mtb_acc_0b10" type="imu">
      <always_on>1</always_on>
      <update_rate>100</update_rate>
      <pose>0.0594286001907 -0.0018543 0.0457981 -0.875168153475 0.116362025479 -1.65561807505</pose>
      <plugin name="iCub_yarp_gazebo_plugin_ACC" filename="libgazebo_yarp_inertial.so"/>
    </sensor>
  </gazebo>
  <sensor name="chest_mtb_acc_0b10" type="accelerometer">
    <parent link="chest"/>
    <origin rpy="-0.875168153475 0.116362025479 -1.65561807505" xyz="0.0594286001907 -0.0018543 0.0457981"/>
  </sensor>
  <gazebo reference="r_upper_arm">
    <sensor name="r_upper_arm_mtb_acc_2b10" type="imu">
      <always_on>1</always_on>
      <update_rate>100</update_rate>
      <pose>-0.0412194 0.029588 0.0295279 1.57079546365 1.57078381225 -2.68257161165</pose>
      <plugin name="iCub_yarp_gazebo_plugin_ACC" filename="libgazebo_yarp_inertial.so"/>
    </sensor>
  </gazebo>
  <sensor name="r_upper_arm_mtb_acc_2b10" type="accelerometer">
    <parent link="r_upper_arm"/>
    <origin rpy="1.57079546365 1.57078381225 -2.68257161165" xyz="-0.0412194 0.029588 0.0295279"/>
  </sensor>
  <gazebo reference="r_upper_arm">
    <sensor name="r_upper_arm_mtb_acc_2b11" type="imu">
      <always_on>1</always_on>
      <update_rate>100</update_rate>
      <pose>-0.0430568 0.02868 0.0760604 -1.57079614695 -1.57050350741 0.459021725219</pose>
      <plugin name="iCub_yarp_gazebo_plugin_ACC" filename="libgazebo_yarp_inertial.so"/>
    </sensor>
  </gazebo>
  <sensor name="r_upper_arm_mtb_acc_2b11" type="accelerometer">
    <parent link="r_upper_arm"/>
    <origin rpy="-1.57079614695 -1.57050350741 0.459021725219" xyz="-0.0430568 0.02868 0.0760604"/>
  </sensor>
  <gazebo reference="r_upper_arm">
    <sensor name="r_upper_arm_mtb_acc_2b12" type="imu">
      <always_on>1</always_on>
      <update_rate>100</update_rate>
      <pose>-0.0430554 0.028681 0.0049922 -1.11177442168 -1.57079632679 0.0</pose>
      <plugin name="iCub_yarp_gazebo_plugin_ACC" filename="libgazebo_yarp_inertial.so"/>
    </sensor>
  </gazebo>
  <sensor name="r_upper_arm_mtb_acc_2b12" type="accelerometer">
    <parent link="r_upper_arm"/>
    <origin rpy="-1.11177442168 -1.57079632679 0.0" xyz="-0.0430554 0.028681 0.0049922"/>
  </sensor>
  <gazebo reference="r_upper_arm">
    <sensor name="r_upper_arm_mtb_acc_2b13" type="imu">
      <always_on>1</always_on>
      <update_rate>100</update_rate>
      <pose>0.010593237 0.02835 -0.010738 1.57079632702 -0.000214520362041 2.47803674451</pose>
      <plugin name="iCub_yarp_gazebo_plugin_ACC" filename="libgazebo_yarp_inertial.so"/>
    </sensor>
  </gazebo>
  <sensor name="r_upper_arm_mtb_acc_2b13" type="accelerometer">
    <parent link="r_upper_arm"/>
    <origin rpy="1.57079632702 -0.000214520362041 2.47803674451" xyz="0.010593237 0.02835 -0.010738"/>
  </sensor>
  <gazebo reference="r_forearm">
    <sensor name="r_forearm_mtb_acc_2b7" type="imu">
      <always_on>1</always_on>
      <update_rate>100</update_rate>
      <pose>-0.0768727847342 0.005497 -0.0110479126068 0.26179949998 0.000370413042328 1.57125816863</pose>
      <plugin name="iCub_yarp_gazebo_plugin_ACC" filename="libgazebo_yarp_inertial.so"/>
    </sensor>
  </gazebo>
  <sensor name="r_forearm_mtb_acc_2b7" type="accelerometer">
    <parent link="r_forearm"/>
    <origin rpy="0.26179949998 0.000370413042328 1.57125816863" xyz="-0.0768727847342 0.005497 -0.0110479126068"/>
  </sensor>
  <gazebo reference="r_forearm">
    <sensor name="r_forearm_mtb_acc_2b8" type="imu">
      <always_on>1</always_on>
      <update_rate>100</update_rate>
      <pose>-0.0514186150796 0.015786 0.0407521537277 -0.661143946092 0.147825248461 0.092070114703</pose>
      <plugin name="iCub_yarp_gazebo_plugin_ACC" filename="libgazebo_yarp_inertial.so"/>
    </sensor>
  </gazebo>
  <sensor name="r_forearm_mtb_acc_2b8" type="accelerometer">
    <parent link="r_forearm"/>
    <origin rpy="-0.661143946092 0.147825248461 0.092070114703" xyz="-0.0514186150796 0.015786 0.0407521537277"/>
  </sensor>
  <gazebo reference="r_forearm">
    <sensor name="r_forearm_mtb_acc_2b9" type="imu">
      <always_on>1</always_on>
      <update_rate>100</update_rate>
      <pose>-0.0216379956759 0.027924 -0.0132490254018 -1.76682626732 0.261191225646 0.054048344372</pose>
      <plugin name="iCub_yarp_gazebo_plugin_ACC" filename="libgazebo_yarp_inertial.so"/>
    </sensor>
  </gazebo>
  <sensor name="r_forearm_mtb_acc_2b9" type="accelerometer">
    <parent link="r_forearm"/>
    <origin rpy="-1.76682626732 0.261191225646 0.054048344372" xyz="-0.0216379956759 0.027924 -0.0132490254018"/>
  </sensor>
  <gazebo reference="l_upper_arm">
    <sensor name="l_upper_arm_mtb_acc_1b10" type="imu">
      <always_on>1</always_on>
      <update_rate>100</update_rate>
      <pose>-0.0430554 -0.028681 0.0295279 -1.57079650664 -1.57050350741 2.68257092837</pose>
      <plugin name="iCub_yarp_gazebo_plugin_ACC" filename="libgazebo_yarp_inertial.so"/>
    </sensor>
  </gazebo>
  <sensor name="l_upper_arm_mtb_acc_1b10" type="accelerometer">
    <parent link="l_upper_arm"/>
    <origin rpy="-1.57079650664 -1.57050350741 2.68257092837" xyz="-0.0430554 -0.028681 0.0295279"/>
  </sensor>
  <gazebo reference="l_upper_arm">
    <sensor name="l_upper_arm_mtb_acc_1b11" type="imu">
      <always_on>1</always_on>
      <update_rate>100</update_rate>
      <pose>-0.0412181 -0.029589 0.0760604 -1.57079650664 -1.57050350741 2.68257092837</pose>
      <plugin name="iCub_yarp_gazebo_plugin_ACC" filename="libgazebo_yarp_inertial.so"/>
    </sensor>
  </gazebo>
  <sensor name="l_upper_arm_mtb_acc_1b11" type="accelerometer">
    <parent link="l_upper_arm"/>
    <origin rpy="-1.57079650664 -1.57050350741 2.68257092837" xyz="-0.0412181 -0.029589 0.0760604"/>
  </sensor>
  <gazebo reference="l_upper_arm">
    <sensor name="l_upper_arm_mtb_acc_1b12" type="imu">
      <always_on>1</always_on>
      <update_rate>100</update_rate>
      <pose>-0.0412194 -0.029588 0.0049921 -1.5707971899 -1.57078381225 2.68257161159</pose>
      <plugin name="iCub_yarp_gazebo_plugin_ACC" filename="libgazebo_yarp_inertial.so"/>
    </sensor>
  </gazebo>
  <sensor name="l_upper_arm_mtb_acc_1b12" type="accelerometer">
    <parent link="l_upper_arm"/>
    <origin rpy="-1.5707971899 -1.57078381225 2.68257161159" xyz="-0.0412194 -0.029588 0.0049921"/>
  </sensor>
  <gazebo reference="l_upper_arm">
    <sensor name="l_upper_arm_mtb_acc_1b13" type="imu">
      <always_on>1</always_on>
      <update_rate>100</update_rate>
      <pose>0.010592709 -0.028351 -0.0086914 -1.57079632657 0.000214520362042 -2.47803674451</pose>
      <plugin name="iCub_yarp_gazebo_plugin_ACC" filename="libgazebo_yarp_inertial.so"/>
    </sensor>
  </gazebo>
  <sensor name="l_upper_arm_mtb_acc_1b13" type="accelerometer">
    <parent link="l_upper_arm"/>
    <origin rpy="-1.57079632657 0.000214520362042 -2.47803674451" xyz="0.010592709 -0.028351 -0.0086914"/>
  </sensor>
  <gazebo reference="l_forearm">
    <sensor name="l_forearm_mtb_acc_1b7" type="imu">
      <always_on>1</always_on>
      <update_rate>100</update_rate>
      <pose>0.0768727847342 -0.005483 -0.0110479126068 0.26179949998 0.000370413042328 -1.57033448496</pose>
      <plugin name="iCub_yarp_gazebo_plugin_ACC" filename="libgazebo_yarp_inertial.so"/>
    </sensor>
  </gazebo>
  <sensor name="l_forearm_mtb_acc_1b7" type="accelerometer">
    <parent link="l_forearm"/>
    <origin rpy="0.26179949998 0.000370413042328 -1.57033448496" xyz="0.0768727847342 -0.005483 -0.0110479126068"/>
  </sensor>
  <gazebo reference="l_forearm">
    <sensor name="l_forearm_mtb_acc_1b8" type="imu">
      <always_on>1</always_on>
      <update_rate>100</update_rate>
      <pose>0.0514241740607 -0.0180279 0.0407507258436 -0.661143946092 0.147825248461 -3.04952253889</pose>
      <plugin name="iCub_yarp_gazebo_plugin_ACC" filename="libgazebo_yarp_inertial.so"/>
    </sensor>
  </gazebo>
  <sensor name="l_forearm_mtb_acc_1b8" type="accelerometer">
    <parent link="l_forearm"/>
    <origin rpy="-0.661143946092 0.147825248461 -3.04952253889" xyz="0.0514241740607 -0.0180279 0.0407507258436"/>
  </sensor>
  <gazebo reference="l_forearm">
    <sensor name="l_forearm_mtb_acc_1b9" type="imu">
      <always_on>1</always_on>
      <update_rate>100</update_rate>
      <pose>0.0220991874996 0.025657 -0.0151174243212 1.76682134218 0.261099829847 3.08752548202</pose>
      <plugin name="iCub_yarp_gazebo_plugin_ACC" filename="libgazebo_yarp_inertial.so"/>
    </sensor>
  </gazebo>
  <sensor name="l_forearm_mtb_acc_1b9" type="accelerometer">
    <parent link="l_forearm"/>
    <origin rpy="1.76682134218 0.261099829847 3.08752548202" xyz="0.0220991874996 0.025657 -0.0151174243212"/>
  </sensor>
  <gazebo reference="r_upper_leg">
    <sensor name="r_upper_leg_ems_acc_eb8" type="imu">
      <always_on>1</always_on>
      <update_rate>100</update_rate>
      <pose>-0.0125751 0.0404072 -0.040227 1.57079632679 1.57079632679 0.0</pose>
      <plugin name="iCub_yarp_gazebo_plugin_ACC" filename="libgazebo_yarp_inertial.so"/>
    </sensor>
  </gazebo>
  <sensor name="r_upper_leg_ems_acc_eb8" type="accelerometer">
    <parent link="r_upper_leg"/>
    <origin rpy="1.57079632679 1.57079632679 0.0" xyz="-0.0125751 0.0404072 -0.040227"/>
  </sensor>
  <gazebo reference="r_upper_leg">
    <sensor name="r_upper_leg_ems_acc_eb11" type="imu">
      <always_on>1</always_on>
      <update_rate>100</update_rate>
      <pose>-0.0125771 -0.040407 -0.083407 1.57079632679 1.57079632679 0.0</pose>
      <plugin name="iCub_yarp_gazebo_plugin_ACC" filename="libgazebo_yarp_inertial.so"/>
    </sensor>
  </gazebo>
  <sensor name="r_upper_leg_ems_acc_eb11" type="accelerometer">
    <parent link="r_upper_leg"/>
    <origin rpy="1.57079632679 1.57079632679 0.0" xyz="-0.0125771 -0.040407 -0.083407"/>
  </sensor>
  <gazebo reference="r_upper_leg">
    <sensor name="r_upper_leg_ems_gyro_eb8" type="imu">
      <always_on>1</always_on>
      <update_rate>100</update_rate>
      <pose>-0.013079 0.0404072 -0.035655 1.57079632679 1.57079632679 0.0</pose>
    </sensor>
  </gazebo>
  <sensor name="r_upper_leg_ems_gyro_eb8" type="gyroscope">
    <parent link="r_upper_leg"/>
    <origin rpy="1.57079632679 1.57079632679 0.0" xyz="-0.013079 0.0404072 -0.035655"/>
  </sensor>
  <gazebo reference="r_upper_leg">
    <sensor name="r_upper_leg_ems_gyro_eb11" type="imu">
      <always_on>1</always_on>
      <update_rate>100</update_rate>
      <pose>-0.013081 -0.040407 -0.087979 1.57079632679 1.57079632679 0.0</pose>
    </sensor>
  </gazebo>
  <sensor name="r_upper_leg_ems_gyro_eb11" type="gyroscope">
    <parent link="r_upper_leg"/>
    <origin rpy="1.57079632679 1.57079632679 0.0" xyz="-0.013081 -0.040407 -0.087979"/>
  </sensor>
  <gazebo reference="r_upper_leg">
    <sensor name="r_upper_leg_mtb_acc_11b1" type="imu">
      <always_on>1</always_on>
      <update_rate>100</update_rate>
      <pose>0.043588612 -0.030195 0.04894 2.52670843803 -1.57044484253 -0.22287382498</pose>
      <plugin name="iCub_yarp_gazebo_plugin_ACC" filename="libgazebo_yarp_inertial.so"/>
    </sensor>
  </gazebo>
  <sensor name="r_upper_leg_mtb_acc_11b1" type="accelerometer">
    <parent link="r_upper_leg"/>
    <origin rpy="2.52670843803 -1.57044484253 -0.22287382498" xyz="0.043588612 -0.030195 0.04894"/>
  </sensor>
  <gazebo reference="r_upper_leg">
    <sensor name="r_upper_leg_mtb_acc_11b2" type="imu">
      <always_on>1</always_on>
      <update_rate>100</update_rate>
      <pose>0.0539467 -0.0064065 0.039056 -3.12940212057 -1.57038181496 -0.273989852569</pose>
      <plugin name="iCub_yarp_gazebo_plugin_ACC" filename="libgazebo_yarp_inertial.so"/>
    </sensor>
  </gazebo>
  <sensor name="r_upper_leg_mtb_acc_11b2" type="accelerometer">
    <parent link="r_upper_leg"/>
    <origin rpy="-3.12940212057 -1.57038181496 -0.273989852569" xyz="0.0539467 -0.0064065 0.039056"/>
  </sensor>
  <gazebo reference="r_upper_leg">
    <sensor name="r_upper_leg_mtb_acc_11b3" type="imu">
      <always_on>1</always_on>
      <update_rate>100</update_rate>
      <pose>0.0538313 -0.0130214 0.003986 -2.87731085451 -1.5703518031 -0.264281823992</pose>
      <plugin name="iCub_yarp_gazebo_plugin_ACC" filename="libgazebo_yarp_inertial.so"/>
    </sensor>
  </gazebo>
  <sensor name="r_upper_leg_mtb_acc_11b3" type="accelerometer">
    <parent link="r_upper_leg"/>
    <origin rpy="-2.87731085451 -1.5703518031 -0.264281823992" xyz="0.0538313 -0.0130214 0.003986"/>
  </sensor>
  <gazebo reference="r_upper_leg">
    <sensor name="r_upper_leg_mtb_acc_11b4" type="imu">
      <always_on>1</always_on>
      <update_rate>100</update_rate>
      <pose>0.0322719 0.0422675 -0.005045 -1.87390998809 -1.57025771326 -0.0808589029571</pose>
      <plugin name="iCub_yarp_gazebo_plugin_ACC" filename="libgazebo_yarp_inertial.so"/>
    </sensor>
  </gazebo>
  <sensor name="r_upper_leg_mtb_acc_11b4" type="accelerometer">
    <parent link="r_upper_leg"/>
    <origin rpy="-1.87390998809 -1.57025771326 -0.0808589029571" xyz="0.0322719 0.0422675 -0.005045"/>
  </sensor>
  <gazebo reference="r_upper_leg">
    <sensor name="r_upper_leg_mtb_acc_11b5" type="imu">
      <always_on>1</always_on>
      <update_rate>100</update_rate>
      <pose>0.0538313 0.0164786 0.003986 -2.87731085451 -1.5703518031 -0.264281823992</pose>
      <plugin name="iCub_yarp_gazebo_plugin_ACC" filename="libgazebo_yarp_inertial.so"/>
    </sensor>
  </gazebo>
  <sensor name="r_upper_leg_mtb_acc_11b5" type="accelerometer">
    <parent link="r_upper_leg"/>
    <origin rpy="-2.87731085451 -1.5703518031 -0.264281823992" xyz="0.0538313 0.0164786 0.003986"/>
  </sensor>
  <gazebo reference="r_upper_leg">
    <sensor name="r_upper_leg_mtb_acc_11b6" type="imu">
      <always_on>1</always_on>
      <update_rate>100</update_rate>
      <pose>-0.0437518 -0.0157594 -0.026565 1.95410275534e-17 1.5703672368 -3.14159265359</pose>
      <plugin name="iCub_yarp_gazebo_plugin_ACC" filename="libgazebo_yarp_inertial.so"/>
    </sensor>
  </gazebo>
  <sensor name="r_upper_leg_mtb_acc_11b6" type="accelerometer">
    <parent link="r_upper_leg"/>
    <origin rpy="1.95410275534e-17 1.5703672368 -3.14159265359" xyz="-0.0437518 -0.0157594 -0.026565"/>
  </sensor>
  <gazebo reference="r_upper_leg">
    <sensor name="r_upper_leg_mtb_acc_11b7" type="imu">
      <always_on>1</always_on>
      <update_rate>100</update_rate>
      <pose>-0.0437518 0.0162386 -0.026566 0.264252523901 1.57035180662 -2.87734010478</pose>
      <plugin name="iCub_yarp_gazebo_plugin_ACC" filename="libgazebo_yarp_inertial.so"/>
    </sensor>
  </gazebo>
  <sensor name="r_upper_leg_mtb_acc_11b7" type="accelerometer">
    <parent link="r_upper_leg"/>
    <origin rpy="0.264252523901 1.57035180662 -2.87734010478" xyz="-0.0437518 0.0162386 -0.026566"/>
  </sensor>
  <gazebo reference="r_lower_leg">
    <sensor name="r_lower_leg_ems_acc_eb9" type="imu">
      <always_on>1</always_on>
      <update_rate>100</update_rate>
      <pose>0.04351373 0.0138396 -0.092765 -3.14159265359 -1.35262978345 -8.47684971046e-16</pose>
      <plugin name="iCub_yarp_gazebo_plugin_ACC" filename="libgazebo_yarp_inertial.so"/>
    </sensor>
  </gazebo>
  <sensor name="r_lower_leg_ems_acc_eb9" type="accelerometer">
    <parent link="r_lower_leg"/>
    <origin rpy="-3.14159265359 -1.35262978345 -8.47684971046e-16" xyz="0.04351373 0.0138396 -0.092765"/>
  </sensor>
  <gazebo reference="r_lower_leg">
    <sensor name="r_lower_leg_ems_gyro_eb9" type="imu">
      <always_on>1</always_on>
      <update_rate>100</update_rate>
      <pose>0.044503292 0.0143435 -0.088301 -3.14159265359 -1.35262978345 -8.47684971046e-16</pose>
    </sensor>
  </gazebo>
  <sensor name="r_lower_leg_ems_gyro_eb9" type="gyroscope">
    <parent link="r_lower_leg"/>
    <origin rpy="-3.14159265359 -1.35262978345 -8.47684971046e-16" xyz="0.044503292 0.0143435 -0.088301"/>
  </sensor>
  <gazebo reference="r_lower_leg">
    <sensor name="r_lower_leg_mtb_acc_11b8" type="imu">
      <always_on>1</always_on>
      <update_rate>100</update_rate>
      <pose>0.05362922 -0.0151958 -0.004318 -1.57079699431 -1.5706802101 -1.81514182543</pose>
      <plugin name="iCub_yarp_gazebo_plugin_ACC" filename="libgazebo_yarp_inertial.so"/>
    </sensor>
  </gazebo>
  <sensor name="r_lower_leg_mtb_acc_11b8" type="accelerometer">
    <parent link="r_lower_leg"/>
    <origin rpy="-1.57079699431 -1.5706802101 -1.81514182543" xyz="0.05362922 -0.0151958 -0.004318"/>
  </sensor>
  <gazebo reference="r_lower_leg">
    <sensor name="r_lower_leg_mtb_acc_11b9" type="imu">
      <always_on>1</always_on>
      <update_rate>100</update_rate>
      <pose>0.0537517 0.0157229 -0.004318 -1.57079629188 -1.57068021044 -1.2217307215</pose>
      <plugin name="iCub_yarp_gazebo_plugin_ACC" filename="libgazebo_yarp_inertial.so"/>
    </sensor>
  </gazebo>
  <sensor name="r_lower_leg_mtb_acc_11b9" type="accelerometer">
    <parent link="r_lower_leg"/>
    <origin rpy="-1.57079629188 -1.57068021044 -1.2217307215" xyz="0.0537517 0.0157229 -0.004318"/>
  </sensor>
  <gazebo reference="r_lower_leg">
    <sensor name="r_lower_leg_mtb_acc_11b10" type="imu">
      <always_on>1</always_on>
      <update_rate>100</update_rate>
      <pose>0.0278945 -0.042214 -0.043468 1.83259550627 -1.57079632679 0.0</pose>
      <plugin name="iCub_yarp_gazebo_plugin_ACC" filename="libgazebo_yarp_inertial.so"/>
    </sensor>
  </gazebo>
  <sensor name="r_lower_leg_mtb_acc_11b10" type="accelerometer">
    <parent link="r_lower_leg"/>
    <origin rpy="1.83259550627 -1.57079632679 0.0" xyz="0.0278945 -0.042214 -0.043468"/>
  </sensor>
  <gazebo reference="r_lower_leg">
    <sensor name="r_lower_leg_mtb_acc_11b11" type="imu">
      <always_on>1</always_on>
      <update_rate>100</update_rate>
      <pose>0.0164801 0.042249 -0.092958 -1.57079369547 -1.57068021035 -0.261801810497</pose>
      <plugin name="iCub_yarp_gazebo_plugin_ACC" filename="libgazebo_yarp_inertial.so"/>
    </sensor>
  </gazebo>
  <sensor name="r_lower_leg_mtb_acc_11b11" type="accelerometer">
    <parent link="r_lower_leg"/>
    <origin rpy="-1.57079369547 -1.57068021035 -0.261801810497" xyz="0.0164801 0.042249 -0.092958"/>
  </sensor>
  <gazebo reference="r_foot">
    <sensor name="r_foot_mtb_acc_11b12" type="imu">
      <always_on>1</always_on>
      <update_rate>100</update_rate>
      <pose>0.1034794 -0.0008122 -0.001215 1.46487522971e-16 2.22044521133e-16 -1.57079604303</pose>
      <plugin name="iCub_yarp_gazebo_plugin_ACC" filename="libgazebo_yarp_inertial.so"/>
    </sensor>
  </gazebo>
  <sensor name="r_foot_mtb_acc_11b12" type="accelerometer">
    <parent link="r_foot"/>
    <origin rpy="1.46487522971e-16 2.22044521133e-16 -1.57079604303" xyz="0.1034794 -0.0008122 -0.001215"/>
  </sensor>
  <gazebo reference="r_foot">
    <sensor name="r_foot_mtb_acc_11b13" type="imu">
      <always_on>1</always_on>
      <update_rate>100</update_rate>
      <pose>0.0784794 -0.0118122 -0.001215 2.22044604925e-16 2.22044604925e-16 -1.57079632679</pose>
      <plugin name="iCub_yarp_gazebo_plugin_ACC" filename="libgazebo_yarp_inertial.so"/>
    </sensor>
  </gazebo>
  <sensor name="r_foot_mtb_acc_11b13" type="accelerometer">
    <parent link="r_foot"/>
    <origin rpy="2.22044604925e-16 2.22044604925e-16 -1.57079632679" xyz="0.0784794 -0.0118122 -0.001215"/>
  </sensor>
  <gazebo reference="l_upper_leg">
    <sensor name="l_upper_leg_ems_acc_eb6" type="imu">
      <always_on>1</always_on>
      <update_rate>100</update_rate>
      <pose>-0.0125771 -0.0404072 -0.083407 1.57079632679 1.57079632679 0.0</pose>
      <plugin name="iCub_yarp_gazebo_plugin_ACC" filename="libgazebo_yarp_inertial.so"/>
    </sensor>
  </gazebo>
  <sensor name="l_upper_leg_ems_acc_eb6" type="accelerometer">
    <parent link="l_upper_leg"/>
    <origin rpy="1.57079632679 1.57079632679 0.0" xyz="-0.0125771 -0.0404072 -0.083407"/>
  </sensor>
  <gazebo reference="l_upper_leg">
    <sensor name="l_upper_leg_ems_acc_eb10" type="imu">
      <always_on>1</always_on>
      <update_rate>100</update_rate>
      <pose>-0.0125751 0.040407 -0.040227 -1.57079632679 -1.57079632679 0.0</pose>
      <plugin name="iCub_yarp_gazebo_plugin_ACC" filename="libgazebo_yarp_inertial.so"/>
    </sensor>
  </gazebo>
  <sensor name="l_upper_leg_ems_acc_eb10" type="accelerometer">
    <parent link="l_upper_leg"/>
    <origin rpy="-1.57079632679 -1.57079632679 0.0" xyz="-0.0125751 0.040407 -0.040227"/>
  </sensor>
  <gazebo reference="l_upper_leg">
    <sensor name="l_upper_leg_ems_gyro_eb6" type="imu">
      <always_on>1</always_on>
      <update_rate>100</update_rate>
      <pose>-0.013081 -0.0404072 -0.087979 1.57079632679 1.57079632679 0.0</pose>
    </sensor>
  </gazebo>
  <sensor name="l_upper_leg_ems_gyro_eb6" type="gyroscope">
    <parent link="l_upper_leg"/>
    <origin rpy="1.57079632679 1.57079632679 0.0" xyz="-0.013081 -0.0404072 -0.087979"/>
  </sensor>
  <gazebo reference="l_upper_leg">
    <sensor name="l_upper_leg_ems_gyro_eb10" type="imu">
      <always_on>1</always_on>
      <update_rate>100</update_rate>
      <pose>-0.013079 0.040407 -0.035655 -1.57079632679 -1.57079632679 0.0</pose>
    </sensor>
  </gazebo>
  <sensor name="l_upper_leg_ems_gyro_eb10" type="gyroscope">
    <parent link="l_upper_leg"/>
    <origin rpy="-1.57079632679 -1.57079632679 0.0" xyz="-0.013079 0.040407 -0.035655"/>
  </sensor>
  <gazebo reference="l_upper_leg">
    <sensor name="l_upper_leg_mtb_acc_10b1" type="imu">
      <always_on>1</always_on>
      <update_rate>100</update_rate>
      <pose>0.04200163 0.031565 0.049132 -1.57079551857 -1.57068021034 -0.733039094713</pose>
      <plugin name="iCub_yarp_gazebo_plugin_ACC" filename="libgazebo_yarp_inertial.so"/>
    </sensor>
  </gazebo>
  <sensor name="l_upper_leg_mtb_acc_10b1" type="accelerometer">
    <parent link="l_upper_leg"/>
    <origin rpy="-1.57079551857 -1.57068021034 -0.733039094713" xyz="0.04200163 0.031565 0.049132"/>
  </sensor>
  <gazebo reference="l_upper_leg">
    <sensor name="l_upper_leg_mtb_acc_10b2" type="imu">
      <always_on>1</always_on>
      <update_rate>100</update_rate>
      <pose>0.05352109 0.0077657 0.039252 -1.57079638638 -1.57068021039 -1.3089969474</pose>
      <plugin name="iCub_yarp_gazebo_plugin_ACC" filename="libgazebo_yarp_inertial.so"/>
    </sensor>
  </gazebo>
  <sensor name="l_upper_leg_mtb_acc_10b2" type="accelerometer">
    <parent link="l_upper_leg"/>
    <origin rpy="-1.57079638638 -1.57068021039 -1.3089969474" xyz="0.05352109 0.0077657 0.039252"/>
  </sensor>
  <gazebo reference="l_upper_leg">
    <sensor name="l_upper_leg_mtb_acc_10b3" type="imu">
      <always_on>1</always_on>
      <update_rate>100</update_rate>
      <pose>0.053785 0.0150706 0.004182 3.14159265359 -1.57079632679 0.0</pose>
      <plugin name="iCub_yarp_gazebo_plugin_ACC" filename="libgazebo_yarp_inertial.so"/>
    </sensor>
  </gazebo>
  <sensor name="l_upper_leg_mtb_acc_10b3" type="accelerometer">
    <parent link="l_upper_leg"/>
    <origin rpy="3.14159265359 -1.57079632679 0.0" xyz="0.053785 0.0150706 0.004182"/>
  </sensor>
  <gazebo reference="l_upper_leg">
    <sensor name="l_upper_leg_mtb_acc_10b4" type="imu">
      <always_on>1</always_on>
      <update_rate>100</update_rate>
      <pose>0.053785 -0.0144294 0.004182 3.14159265359 -1.57079632679 0.0</pose>
      <plugin name="iCub_yarp_gazebo_plugin_ACC" filename="libgazebo_yarp_inertial.so"/>
    </sensor>
  </gazebo>
  <sensor name="l_upper_leg_mtb_acc_10b4" type="accelerometer">
    <parent link="l_upper_leg"/>
    <origin rpy="3.14159265359 -1.57079632679 0.0" xyz="0.053785 -0.0144294 0.004182"/>
  </sensor>
  <gazebo reference="l_upper_leg">
    <sensor name="l_upper_leg_mtb_acc_10b5" type="imu">
      <always_on>1</always_on>
      <update_rate>100</update_rate>
      <pose>0.03412949 -0.0414999 -0.004858 1.95476889104 -1.57079632679 0.0</pose>
      <plugin name="iCub_yarp_gazebo_plugin_ACC" filename="libgazebo_yarp_inertial.so"/>
    </sensor>
  </gazebo>
  <sensor name="l_upper_leg_mtb_acc_10b5" type="accelerometer">
    <parent link="l_upper_leg"/>
    <origin rpy="1.95476889104 -1.57079632679 0.0" xyz="0.03412949 -0.0414999 -0.004858"/>
  </sensor>
  <gazebo reference="l_upper_leg">
    <sensor name="l_upper_leg_mtb_acc_10b6" type="imu">
      <always_on>1</always_on>
      <update_rate>100</update_rate>
      <pose>-0.043785 0.0178111 -0.026411 -1.57079632679 1.57077431394 1.57079632679</pose>
      <plugin name="iCub_yarp_gazebo_plugin_ACC" filename="libgazebo_yarp_inertial.so"/>
    </sensor>
  </gazebo>
  <sensor name="l_upper_leg_mtb_acc_10b6" type="accelerometer">
    <parent link="l_upper_leg"/>
    <origin rpy="-1.57079632679 1.57077431394 1.57079632679" xyz="-0.043785 0.0178111 -0.026411"/>
  </sensor>
  <gazebo reference="l_upper_leg">
    <sensor name="l_upper_leg_mtb_acc_10b7" type="imu">
      <always_on>1</always_on>
      <update_rate>100</update_rate>
      <pose>-0.043785 -0.0141918 -0.026411 1.5707963268 1.57064733889 -1.57079632679</pose>
      <plugin name="iCub_yarp_gazebo_plugin_ACC" filename="libgazebo_yarp_inertial.so"/>
    </sensor>
  </gazebo>
  <sensor name="l_upper_leg_mtb_acc_10b7" type="accelerometer">
    <parent link="l_upper_leg"/>
    <origin rpy="1.5707963268 1.57064733889 -1.57079632679" xyz="-0.043785 -0.0141918 -0.026411"/>
  </sensor>
  <gazebo reference="l_lower_leg">
    <sensor name="l_lower_leg_ems_acc_eb7" type="imu">
      <always_on>1</always_on>
      <update_rate>100</update_rate>
      <pose>0.04351373 0.0113146 -0.092765 -3.14159265359 -1.35262978345 -8.47684971046e-16</pose>
      <plugin name="iCub_yarp_gazebo_plugin_ACC" filename="libgazebo_yarp_inertial.so"/>
    </sensor>
  </gazebo>
  <sensor name="l_lower_leg_ems_acc_eb7" type="accelerometer">
    <parent link="l_lower_leg"/>
    <origin rpy="-3.14159265359 -1.35262978345 -8.47684971046e-16" xyz="0.04351373 0.0113146 -0.092765"/>
  </sensor>
  <gazebo reference="l_lower_leg">
    <sensor name="l_lower_leg_ems_gyro_eb7" type="imu">
      <always_on>1</always_on>
      <update_rate>100</update_rate>
      <pose>0.044503292 0.0118185 -0.088301 -3.14159265359 -1.35262978345 -8.47684971046e-16</pose>
    </sensor>
  </gazebo>
  <sensor name="l_lower_leg_ems_gyro_eb7" type="gyroscope">
    <parent link="l_lower_leg"/>
    <origin rpy="-3.14159265359 -1.35262978345 -8.47684971046e-16" xyz="0.044503292 0.0118185 -0.088301"/>
  </sensor>
  <gazebo reference="l_lower_leg">
    <sensor name="l_lower_leg_mtb_acc_10b8" type="imu">
      <always_on>1</always_on>
      <update_rate>100</update_rate>
      <pose>0.05313347 0.0171841 -0.004318 -2.89724648752 -1.57079632679 0.0</pose>
      <plugin name="iCub_yarp_gazebo_plugin_ACC" filename="libgazebo_yarp_inertial.so"/>
    </sensor>
  </gazebo>
  <sensor name="l_lower_leg_mtb_acc_10b8" type="accelerometer">
    <parent link="l_lower_leg"/>
    <origin rpy="-2.89724648752 -1.57079632679 0.0" xyz="0.05313347 0.0171841 -0.004318"/>
  </sensor>
  <gazebo reference="l_lower_leg">
    <sensor name="l_lower_leg_mtb_acc_10b9" type="imu">
      <always_on>1</always_on>
      <update_rate>100</update_rate>
      <pose>0.0544518 -0.0137991 -0.004318 -1.57079636645 -1.57068021044 -1.91986192735</pose>
      <plugin name="iCub_yarp_gazebo_plugin_ACC" filename="libgazebo_yarp_inertial.so"/>
    </sensor>
  </gazebo>
  <sensor name="l_lower_leg_mtb_acc_10b9" type="accelerometer">
    <parent link="l_lower_leg"/>
    <origin rpy="-1.57079636645 -1.57068021044 -1.91986192735" xyz="0.0544518 -0.0137991 -0.004318"/>
  </sensor>
  <gazebo reference="l_lower_leg">
    <sensor name="l_lower_leg_mtb_acc_10b10" type="imu">
      <always_on>1</always_on>
      <update_rate>100</update_rate>
      <pose>0.0259151 0.042744 -0.043468 -1.57079369547 -1.57068021035 -0.261801810497</pose>
      <plugin name="iCub_yarp_gazebo_plugin_ACC" filename="libgazebo_yarp_inertial.so"/>
    </sensor>
  </gazebo>
  <sensor name="l_lower_leg_mtb_acc_10b10" type="accelerometer">
    <parent link="l_lower_leg"/>
    <origin rpy="-1.57079369547 -1.57068021035 -0.261801810497" xyz="0.0259151 0.042744 -0.043468"/>
  </sensor>
  <gazebo reference="l_lower_leg">
    <sensor name="l_lower_leg_mtb_acc_10b11" type="imu">
      <always_on>1</always_on>
      <update_rate>100</update_rate>
      <pose>0.0184593 -0.0417187 -0.092958 1.57079531928 -1.57076999786 0.261800187025</pose>
      <plugin name="iCub_yarp_gazebo_plugin_ACC" filename="libgazebo_yarp_inertial.so"/>
    </sensor>
  </gazebo>
  <sensor name="l_lower_leg_mtb_acc_10b11" type="accelerometer">
    <parent link="l_lower_leg"/>
    <origin rpy="1.57079531928 -1.57076999786 0.261800187025" xyz="0.0184593 -0.0417187 -0.092958"/>
  </sensor>
  <gazebo reference="l_foot">
    <sensor name="l_foot_mtb_acc_10b12" type="imu">
      <always_on>1</always_on>
      <update_rate>100</update_rate>
      <pose>0.1055274 0.0008122 -0.001215 0.0 -0.0 1.57079632679</pose>
      <plugin name="iCub_yarp_gazebo_plugin_ACC" filename="libgazebo_yarp_inertial.so"/>
    </sensor>
  </gazebo>
  <sensor name="l_foot_mtb_acc_10b12" type="accelerometer">
    <parent link="l_foot"/>
    <origin rpy="0.0 -0.0 1.57079632679" xyz="0.1055274 0.0008122 -0.001215"/>
  </sensor>
  <gazebo reference="l_foot">
    <sensor name="l_foot_mtb_acc_10b13" type="imu">
      <always_on>1</always_on>
      <update_rate>100</update_rate>
      <pose>0.0805274 0.0118122 -0.001215 0.0 -0.0 1.57079632679</pose>
      <plugin name="iCub_yarp_gazebo_plugin_ACC" filename="libgazebo_yarp_inertial.so"/>
    </sensor>
  </gazebo>
  <sensor name="l_foot_mtb_acc_10b13" type="accelerometer">
    <parent link="l_foot"/>
    <origin rpy="0.0 -0.0 1.57079632679" xyz="0.0805274 0.0118122 -0.001215"/>
  </sensor>
  <gazebo>
    <pose>0.0 0.0 0.63 0.0 0.0 3.14</pose>
  </gazebo> -->
</robot>
